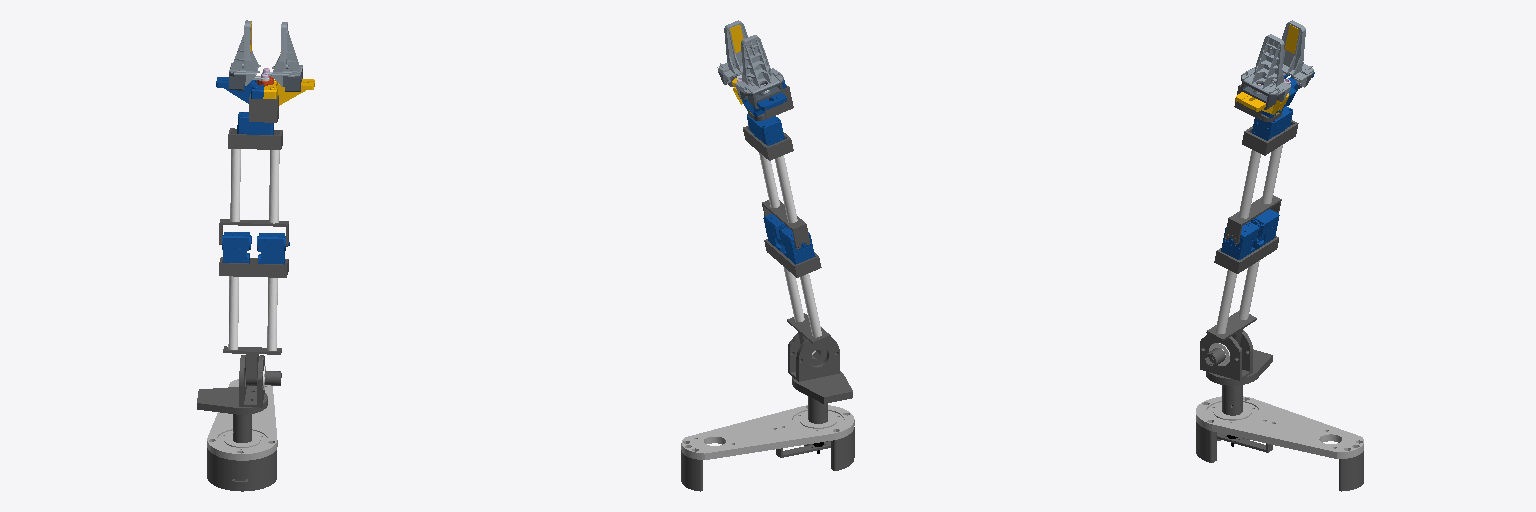
--- What the picture shows (computed from the rendered views, not written in the file) ---
Views: 3 orthographic renders of the robot side by side, from view 1: azimuth 30°, elevation 25°; view 2: azimuth 150°, elevation 25°; view 3: azimuth 270°, elevation 25°.
Robot: jacker — 5 links, 4 joints (2 revolute, 2 continuous); root link base_link; default pose: all joints at 0.
Visible links, largest first — view 1: link_elbow, base_link, link_claw, link_forearm, link_socket; view 2: base_link, link_claw, link_elbow, link_socket, link_forearm; view 3: base_link, link_claw, link_elbow, link_forearm, link_socket.
Boxes of the visible links, box(x1,y1,x2,y2) form: link_elbow: box(219, 232, 289, 385); base_link: box(207, 379, 277, 491); link_claw: box(216, 20, 314, 122); link_forearm: box(219, 112, 288, 246); link_socket: box(197, 355, 267, 442); base_link: box(681, 405, 854, 491); link_claw: box(717, 20, 793, 120); link_elbow: box(763, 214, 830, 362); link_socket: box(788, 333, 852, 453); link_forearm: box(743, 114, 810, 249); base_link: box(1196, 396, 1363, 491); link_claw: box(1234, 20, 1314, 121); link_elbow: box(1204, 209, 1279, 367); link_forearm: box(1225, 106, 1298, 244); link_socket: box(1200, 330, 1272, 446).
Bounding box of the posed robot: 0.188 × 0.2103 × 0.6132 m (x, y, z).
Meshes: 28 distinct files referenced, 42 mesh visuals loaded (28 binary STL).

The robot description file, URDF, robot "jacker":
<robot name="jacker">
    <link name="base_link">
        <!-- <visual>
         <origin xyz="0.0312733 0.0316299 -0.0407984" rpy="-3.14159 6.52412e-16 9.27658e-32" />
         <geometry>
            <mesh filename="package://right_arm_urdf/meshes/.5_hexbearing_1.125_od.stl" />
         </geometry>
         <material name=".5_hexbearing_1.125_od_material">
            <color rgba="0.956863 0.956863 0.956863 1.0" />
         </material>
      </visual> -->
        <!-- <collision>
         <origin xyz="0.0312733 0.0316299 -0.0407984" rpy="-3.14159 6.52412e-16 9.27658e-32" />
         <geometry>
            <mesh filename="package://right_arm_urdf/meshes/.5_hexbearing_1.125_od.stl" />
         </geometry>
         <material name=".5_hexbearing_1.125_od_material">
            <color rgba="0.956863 0.956863 0.956863 1.0" />
         </material>
      </collision> -->
        <!-- <visual>
         <origin xyz="-0.050972 -0.0908091 -0.0664109" rpy="1.5708 -1.23179e-14 1.10732" />
         <geometry>
            <mesh filename="package://right_arm_urdf/meshes/.5in_hex_collar.stl" />
         </geometry>
         <material name=".5in_hex_collar_material">
            <color rgba="0.0392157 0.0392157 0.0392157 1.0" />
         </material>
      </visual> -->
        <!-- <collision>
         <origin xyz="-0.050972 -0.0908091 -0.0664109" rpy="1.5708 -1.23179e-14 1.10732" />
         <geometry>
            <mesh filename="package://right_arm_urdf/meshes/.5in_hex_collar.stl" />
         </geometry>
         <material name=".5in_hex_collar_material">
            <color rgba="0.0392157 0.0392157 0.0392157 1.0" />
         </material>
      </collision> -->
        <visual>
            <origin xyz="-0.050972 -0.0908091 -0.0376234" rpy="2.96018e-17 4.29356e-16 -0.591496" />
            <geometry>
                <mesh filename="package://right_arm_urdf/meshes/baseplaterev2.stl" />
            </geometry>
            <material name="baseplaterev2_material">
                <color rgba="0.74902 0.74902 0.74902 1.0" />
            </material>
        </visual>
        <collision>
            <origin xyz="-0.050972 -0.0908091 -0.0376234" rpy="2.96018e-17 4.29356e-16 -0.591496" />
            <geometry>
                <mesh filename="package://right_arm_urdf/meshes/baseplaterev2.stl" />
            </geometry>
            <material name="baseplaterev2_material">
                <color rgba="0.74902 0.74902 0.74902 1.0" />
            </material>
        </collision>
        <visual>
            <origin xyz="0.0696264 0.038978 -0.0915984" rpy="4.7541e-17 4.39226e-16 -0.591496" />
            <geometry>
                <mesh filename="package://right_arm_urdf/meshes/prototypestand2rev2.stl" />
            </geometry>
            <material name="prototypestand2rev2_material">
                <color rgba="0.411765 0.411765 0.411765 1.0" />
            </material>
        </visual>
        <collision>
            <origin xyz="0.0696264 0.038978 -0.0915984" rpy="4.7541e-17 4.39226e-16 -0.591496" />
            <geometry>
                <mesh filename="package://right_arm_urdf/meshes/prototypestand2rev2.stl" />
            </geometry>
            <material name="prototypestand2rev2_material">
                <color rgba="0.411765 0.411765 0.411765 1.0" />
            </material>
        </collision>
        <!-- <visual>
         <origin xyz="0.0312733 0.0316299 0.0129016" rpy="-2.16184 -1.5708 0" />
         <geometry>
            <mesh filename="package://right_arm_urdf/meshes/neo550.stl" />
         </geometry>
         <material name="neo550_material">
            <color rgba="0.752941 0.752941 0.752941 1.0" />
         </material>
      </visual>
      <collision>
         <origin xyz="0.0312733 0.0316299 0.0129016" rpy="-2.16184 -1.5708 0" />
         <geometry>
            <mesh filename="package://right_arm_urdf/meshes/neo550.stl" />
         </geometry>
         <material name="neo550_material">
            <color rgba="0.752941 0.752941 0.752941 1.0" />
         </material>
      </collision> -->
        <!-- <visual>
         <origin xyz="-0.050972 -0.0908091 -0.0559859" rpy="-1.5708 6.96087e-16 2.15452" />
         <geometry>
            <mesh filename="package://right_arm_urdf/meshes/24t_htd_pulley_9mm.stl" />
         </geometry>
         <material name="24t_htd_pulley_9mm_material">
            <color rgba="0.752941 0.752941 0.752941 1.0" />
         </material>
      </visual>
      <collision>
         <origin xyz="-0.050972 -0.0908091 -0.0559859" rpy="-1.5708 6.96087e-16 2.15452" />
         <geometry>
            <mesh filename="package://right_arm_urdf/meshes/24t_htd_pulley_9mm.stl" />
         </geometry>
         <material name="24t_htd_pulley_9mm_material">
            <color rgba="0.752941 0.752941 0.752941 1.0" />
         </material>
      </collision> -->
        <!-- <visual>
         <origin xyz="0.0312733 0.0316299 -0.0221986" rpy="-2.69161 1.5708 0" />
         <geometry>
            <mesh filename="package://right_arm_urdf/meshes/217-2742.stl" />
         </geometry>
         <material name="217-2742_material">
            <color rgba="0.752941 0.752941 0.752941 1.0" />
         </material>
      </visual>
      <collision>
         <origin xyz="0.0312733 0.0316299 -0.0221986" rpy="-2.69161 1.5708 0" />
         <geometry>
            <mesh filename="package://right_arm_urdf/meshes/217-2742.stl" />
         </geometry>
         <material name="217-2742_material">
            <color rgba="0.752941 0.752941 0.752941 1.0" />
         </material>
      </collision> -->
        <!-- <visual>
         <origin xyz="0.0312733 0.0316299 -0.0664109" rpy="-1.5708 -5.74653e-16 -2.76056" />
         <geometry>
            <mesh filename="package://right_arm_urdf/meshes/.5in_hex_collar.stl" />
         </geometry>
         <material name=".5in_hex_collar_material">
            <color rgba="0.0392157 0.0392157 0.0392157 1.0" />
         </material>
      </visual>
      <collision>
         <origin xyz="0.0312733 0.0316299 -0.0664109" rpy="-1.5708 -5.74653e-16 -2.76056" />
         <geometry>
            <mesh filename="package://right_arm_urdf/meshes/.5in_hex_collar.stl" />
         </geometry>
         <material name=".5in_hex_collar_material">
            <color rgba="0.0392157 0.0392157 0.0392157 1.0" />
         </material>
      </collision> -->
        <!-- <visual>
         <origin xyz="0.0312733 0.0316299 -0.00294843" rpy="1.5708 -9.38059e-16 2.5501" />
         <geometry>
            <mesh filename="package://right_arm_urdf/meshes/217-2816-001_rev1.stl" />
         </geometry>
         <material name="217-2816-001_rev1_material">
            <color rgba="0.866667 0.909804 1 1.0" />
         </material>
      </visual>
      <collision>
         <origin xyz="0.0312733 0.0316299 -0.00294843" rpy="1.5708 -9.38059e-16 2.5501" />
         <geometry>
            <mesh filename="package://right_arm_urdf/meshes/217-2816-001_rev1.stl" />
         </geometry>
         <material name="217-2816-001_rev1_material">
            <color rgba="0.866667 0.909804 1 1.0" />
         </material>
      </collision> -->
        <!-- <visual>
         <origin xyz="0.0312733 0.0316299 -0.0664109" rpy="-1.5708 -5.74653e-16 -2.76056" />
         <geometry>
            <mesh filename="package://right_arm_urdf/meshes/.5in_hex_collar.stl" />
         </geometry>
         <material name=".5in_hex_collar_material">
            <color rgba="0.0392157 0.0392157 0.0392157 1.0" />
         </material>
      </visual>
      <collision>
         <origin xyz="0.0312733 0.0316299 -0.0664109" rpy="-1.5708 -5.74653e-16 -2.76056" />
         <geometry>
            <mesh filename="package://right_arm_urdf/meshes/.5in_hex_collar.stl" />
         </geometry>
         <material name=".5in_hex_collar_material">
            <color rgba="0.0392157 0.0392157 0.0392157 1.0" />
         </material>
      </collision> -->
        <!-- <visual>
         <origin xyz="0.0312733 0.0316299 -0.0559859" rpy="-1.5708 -5.33776e-16 -2.76056" />
         <geometry>
            <mesh filename="package://right_arm_urdf/meshes/18t_htd_pulley_9mm1.stl" />
         </geometry>
         <material name="18t_htd_pulley_9mm1_material">
            <color rgba="0.0392157 0.0392157 0.0392157 1.0" />
         </material>
      </visual>
      <collision>
         <origin xyz="0.0312733 0.0316299 -0.0559859" rpy="-1.5708 -5.33776e-16 -2.76056" />
         <geometry>
            <mesh filename="package://right_arm_urdf/meshes/18t_htd_pulley_9mm1.stl" />
         </geometry>
         <material name="18t_htd_pulley_9mm1_material">
            <color rgba="0.0392157 0.0392157 0.0392157 1.0" />
         </material>
      </collision> -->
        <!-- <visual>
         <origin xyz="-0.050972 -0.0908091 -0.0664109" rpy="1.5708 -1.91053e-15 2.47543" />
         <geometry>
            <mesh filename="package://right_arm_urdf/meshes/.5in_hex_collar.stl" />
         </geometry>
         <material name=".5in_hex_collar_material">
            <color rgba="0.0392157 0.0392157 0.0392157 1.0" />
         </material>
      </visual>
      <collision>
         <origin xyz="-0.050972 -0.0908091 -0.0664109" rpy="1.5708 -1.91053e-15 2.47543" />
         <geometry>
            <mesh filename="package://right_arm_urdf/meshes/.5in_hex_collar.stl" />
         </geometry>
         <material name=".5in_hex_collar_material">
            <color rgba="0.0392157 0.0392157 0.0392157 1.0" />
         </material>
      </collision> -->
        <!-- <visual>
         <origin xyz="0.0312733 0.0316299 0.0229016" rpy="-1.5708 7.13515e-16 -0.591046" />
         <geometry>
            <mesh filename="package://right_arm_urdf/meshes/rs_550_motor_mounting_plate.stl" />
         </geometry>
         <material name="rs_550_motor_mounting_plate_material">
            <color rgba="0.25098 0.25098 0.25098 1.0" />
         </material>
      </visual>
      <collision>
         <origin xyz="0.0312733 0.0316299 0.0229016" rpy="-1.5708 7.13515e-16 -0.591046" />
         <geometry>
            <mesh filename="package://right_arm_urdf/meshes/rs_550_motor_mounting_plate.stl" />
         </geometry>
         <material name="rs_550_motor_mounting_plate_material">
            <color rgba="0.25098 0.25098 0.25098 1.0" />
         </material>
      </collision> -->
        <!-- <visual>
         <origin xyz="0.0312733 0.0316299 -0.0371986" rpy="2.40948 -1.5708 0" />
         <geometry>
            <mesh filename="package://right_arm_urdf/meshes/217-2742.stl" />
         </geometry>
         <material name="217-2742_material">
            <color rgba="0.752941 0.752941 0.752941 1.0" />
         </material>
      </visual>
      <collision>
         <origin xyz="0.0312733 0.0316299 -0.0371986" rpy="2.40948 -1.5708 0" />
         <geometry>
            <mesh filename="package://right_arm_urdf/meshes/217-2742.stl" />
         </geometry>
         <material name="217-2742_material">
            <color rgba="0.752941 0.752941 0.752941 1.0" />
         </material>
      </collision> -->
        <!-- <visual> 
         <origin xyz="-0.050972 -0.0908091 -0.0407984" rpy="3.14159 -5.84958e-17 -1.71336" />
         <geometry>
            <mesh filename="package://right_arm_urdf/meshes/.5_hexbearing_1.125_od.stl" />
         </geometry>
         <material name=".5_hexbearing_1.125_od_material">
            <color rgba="0.956863 0.956863 0.956863 1.0" />
         </material>
      </visual>
      <collision>
         <origin xyz="-0.050972 -0.0908091 -0.0407984" rpy="3.14159 -5.84958e-17 -1.71336" />
         <geometry>
            <mesh filename="package://right_arm_urdf/meshes/.5_hexbearing_1.125_od.stl" />
         </geometry>
         <material name=".5_hexbearing_1.125_od_material">
            <color rgba="0.956863 0.956863 0.956863 1.0" />
         </material>
      </collision> -->
        <!-- <visual>
         <origin xyz="0.0312733 0.0316299 -0.0156484" rpy="1.5708 -3.87577e-16 -0.591496" />
         <geometry>
            <mesh filename="package://right_arm_urdf/meshes/217-2816-001_rev1.stl" />
         </geometry>
         <material name="217-2816-001_rev1_material">
            <color rgba="0.866667 0.909804 1 1.0" />
         </material>
      </visual>
      <collision>
         <origin xyz="0.0312733 0.0316299 -0.0156484" rpy="1.5708 -3.87577e-16 -0.591496" />
         <geometry>
            <mesh filename="package://right_arm_urdf/meshes/217-2816-001_rev1.stl" />
         </geometry>
         <material name="217-2816-001_rev1_material">
            <color rgba="0.866667 0.909804 1 1.0" />
         </material>
      </collision> -->
        <visual>
            <origin xyz="-0.081081 -0.124245 -0.0775141" rpy="0.591496 1.5708 0" />
            <geometry>
                <mesh filename="package://right_arm_urdf/meshes/shoulderyawencoderplate.stl" />
            </geometry>
            <material name="shoulderyawencoderplate_material">
                <color rgba="0.411765 0.411765 0.411765 1.0" />
            </material>
        </visual>
        <collision>
            <origin xyz="-0.081081 -0.124245 -0.0775141" rpy="0.591496 1.5708 0" />
            <geometry>
                <mesh filename="package://right_arm_urdf/meshes/shoulderyawencoderplate.stl" />
            </geometry>
            <material name="shoulderyawencoderplate_material">
                <color rgba="0.411765 0.411765 0.411765 1.0" />
            </material>
        </collision>
        <visual>
            <origin xyz="-0.050972 -0.0908091 -0.0915984" rpy="3.12908e-16 2.95481e-16 0.979301" />
            <geometry>
                <mesh filename="package://right_arm_urdf/meshes/prototypestand1.stl" />
            </geometry>
            <material name="prototypestand1_material">
                <color rgba="0.411765 0.411765 0.411765 1.0" />
            </material>
        </visual>
        <collision>
            <origin xyz="-0.050972 -0.0908091 -0.0915984" rpy="3.12908e-16 2.95481e-16 0.979301" />
            <geometry>
                <mesh filename="package://right_arm_urdf/meshes/prototypestand1.stl" />
            </geometry>
            <material name="prototypestand1_material">
                <color rgba="0.411765 0.411765 0.411765 1.0" />
            </material>
        </collision>
        
<inertial>
            <origin xyz="0 0 0" rpy="0 0 0" />
            <mass value="5" />
            <inertia ixx="1" ixy="1" ixz="1" iyy="0" iyz="0" izz="0" />
        </inertial>

    </link>
    <link name="link_socket">
        <!-- <visual>
         <origin xyz="0.0177283 -3.33067e-16 -0.0893164" rpy="2.21468 7.24799e-15 3.14159" />
         <geometry>
            <mesh filename="package://right_arm_urdf/meshes/217-2742.stl" />
         </geometry>
         <material name="217-2742_material">
            <color rgba="0.752941 0.752941 0.752941 1.0" />
         </material>
      </visual>
      <collision>
         <origin xyz="0.0177283 -3.33067e-16 -0.0893164" rpy="2.21468 7.24799e-15 3.14159" />
         <geometry>
            <mesh filename="package://right_arm_urdf/meshes/217-2742.stl" />
         </geometry>
         <material name="217-2742_material">
            <color rgba="0.752941 0.752941 0.752941 1.0" />
         </material>
      </collision> -->
        <!-- <visual>
         <origin xyz="0.0528285 -3.747e-16 -0.0893164" rpy="2.35664 -8.07851e-15 -2.33009e-15" />
         <geometry>
            <mesh filename="package://right_arm_urdf/meshes/neo550.stl" />
         </geometry>
         <material name="neo550_material">
            <color rgba="0.752941 0.752941 0.752941 1.0" />
         </material>
      </visual>
      <collision>
         <origin xyz="0.0528285 -3.747e-16 -0.0893164" rpy="2.35664 -8.07851e-15 -2.33009e-15" />
         <geometry>
            <mesh filename="package://right_arm_urdf/meshes/neo550.stl" />
         </geometry>
         <material name="neo550_material">
            <color rgba="0.752941 0.752941 0.752941 1.0" />
         </material>
      </collision>
      <visual>
         <origin xyz="0.0628285 2.08167e-16 -0.0893164" rpy="-3.14159 -0.784949 -1.5708" />
         <geometry>
            <mesh filename="package://right_arm_urdf/meshes/rs_550_motor_mounting_plate.stl" />
         </geometry>
         <material name="rs_550_motor_mounting_plate_material">
            <color rgba="0.25098 0.25098 0.25098 1.0" />
         </material>
      </visual>
      <collision>
         <origin xyz="0.0628285 2.08167e-16 -0.0893164" rpy="-3.14159 -0.784949 -1.5708" />
         <geometry>
            <mesh filename="package://right_arm_urdf/meshes/rs_550_motor_mounting_plate.stl" />
         </geometry>
         <material name="rs_550_motor_mounting_plate_material">
            <color rgba="0.25098 0.25098 0.25098 1.0" />
         </material>
      </collision> -->
        <!-- <visual>
         <origin xyz="0.00230351 -4.30211e-16 -0.0893164" rpy="-1.5708 -0.610312 1.5708" />
         <geometry>
            <mesh filename="package://right_arm_urdf/meshes/.5_hexbearing_1.125_od.stl" />
         </geometry>
         <material name=".5_hexbearing_1.125_od_material">
            <color rgba="0.956863 0.956863 0.956863 1.0" />
         </material>
      </visual>
      <collision>
         <origin xyz="0.00230351 -4.30211e-16 -0.0893164" rpy="-1.5708 -0.610312 1.5708" />
         <geometry>
            <mesh filename="package://right_arm_urdf/meshes/.5_hexbearing_1.125_od.stl" />
         </geometry>
         <material name=".5_hexbearing_1.125_od_material">
            <color rgba="0.956863 0.956863 0.956863 1.0" />
         </material>
      </collision> -->
        <!-- <visual>
         <origin xyz="0.0104807 1.11022e-16 -0.0893164" rpy="1.23402e-14 -0.960485 -1.5708" />
         <geometry>
            <mesh filename="package://right_arm_urdf/meshes/217-2625-003_rev1.stl" />
         </geometry>
         <material name="217-2625-003_rev1_material">
            <color rgba="0.25098 0.25098 0.25098 1.0" />
         </material>
      </visual>
      <collision>
         <origin xyz="0.0104807 1.11022e-16 -0.0893164" rpy="1.23402e-14 -0.960485 -1.5708" />
         <geometry>
            <mesh filename="package://right_arm_urdf/meshes/217-2625-003_rev1.stl" />
         </geometry>
         <material name="217-2625-003_rev1_material">
            <color rgba="0.25098 0.25098 0.25098 1.0" />
         </material>
      </collision> -->
        <!-- <visual>
         <origin xyz="0.00676581 0.0254 -0.0893164" rpy="3.14159 -4.52986e-12 -1.5708" />
         <geometry>
            <mesh filename="package://right_arm_urdf/meshes/10-32_x_1.5in_socket_screw.sldprt.stl" />
         </geometry>
         <material name="10-32_x_1.5in_socket_screw.sldprt_material">
            <color rgba="0.776471 0.756863 0.737255 1.0" />
         </material>
      </visual>
      <collision>
         <origin xyz="0.00676581 0.0254 -0.0893164" rpy="3.14159 -4.52986e-12 -1.5708" />
         <geometry>
            <mesh filename="package://right_arm_urdf/meshes/10-32_x_1.5in_socket_screw.sldprt.stl" />
         </geometry>
         <material name="10-32_x_1.5in_socket_screw.sldprt_material">
            <color rgba="0.776471 0.756863 0.737255 1.0" />
         </material>
      </collision> -->
        <!-- <visual>
         <origin xyz="0.00676581 -0.0254 -0.0893164" rpy="3.14159 -4.52529e-12 -1.5708" />
         <geometry>
            <mesh filename="package://right_arm_urdf/meshes/10-32_x_1.5in_socket_screw.sldprt.stl" />
         </geometry>
         <material name="10-32_x_1.5in_socket_screw.sldprt_material">
            <color rgba="0.776471 0.756863 0.737255 1.0" />
         </material>
      </visual>
      <collision>
         <origin xyz="0.00676581 -0.0254 -0.0893164" rpy="3.14159 -4.52529e-12 -1.5708" />
         <geometry>
            <mesh filename="package://right_arm_urdf/meshes/10-32_x_1.5in_socket_screw.sldprt.stl" />
         </geometry>
         <material name="10-32_x_1.5in_socket_screw.sldprt_material">
            <color rgba="0.776471 0.756863 0.737255 1.0" />
         </material>
      </collision> -->
        <!-- <visual>
         <origin xyz="0.0244285 -3.88578e-16 -0.0893164" rpy="-3.14159 -0.785398 -1.5708" />
         <geometry>
            <mesh filename="package://right_arm_urdf/meshes/217-2625-002_rev1.stl" />
         </geometry>
         <material name="217-2625-002_rev1_material">
            <color rgba="0.866667 0.909804 1 1.0" />
         </material>
      </visual>
      <collision>
         <origin xyz="0.0244285 -3.88578e-16 -0.0893164" rpy="-3.14159 -0.785398 -1.5708" />
         <geometry>
            <mesh filename="package://right_arm_urdf/meshes/217-2625-002_rev1.stl" />
         </geometry>
         <material name="217-2625-002_rev1_material">
            <color rgba="0.866667 0.909804 1 1.0" />
         </material>
      </collision> -->
        <!-- <visual>
         <origin xyz="-0.0507017 -4.996e-16 -0.0893164" rpy="-1.5708 -0.185983 1.5708" />
         <geometry>
            <mesh filename="package://right_arm_urdf/meshes/e8tencodershaft.stl" />
         </geometry>
         <material name="e8tencodershaft_material">
            <color rgba="0.0392157 0.0392157 0.0392157 1.0" />
         </material>
      </visual>
      <collision>
         <origin xyz="-0.0507017 -4.996e-16 -0.0893164" rpy="-1.5708 -0.185983 1.5708" />
         <geometry>
            <mesh filename="package://right_arm_urdf/meshes/e8tencodershaft.stl" />
         </geometry>
         <material name="e8tencodershaft_material">
            <color rgba="0.0392157 0.0392157 0.0392157 1.0" />
         </material>
      </collision> -->
        <visual>
            <origin xyz="8.26275e-12 -5.63159e-12 -0.0508" rpy="-3.14159 -6.0173e-15 -2.61799" />
            <geometry>
                <mesh filename="package://right_arm_urdf/meshes/shoulderyawaxlerev2.stl" />
            </geometry>
            <material name="shoulderyawaxlerev2_material">
                <color rgba="0.0392157 0.0392157 0.0392157 1.0" />
            </material>
        </visual>
        <collision>
            <origin xyz="8.26275e-12 -5.63159e-12 -0.0508" rpy="-3.14159 -6.0173e-15 -2.61799" />
            <geometry>
                <mesh filename="package://right_arm_urdf/meshes/shoulderyawaxlerev2.stl" />
            </geometry>
            <material name="shoulderyawaxlerev2_material">
                <color rgba="0.0392157 0.0392157 0.0392157 1.0" />
            </material>
        </collision>
        <!-- <visual>
         <origin xyz="0.0369785 4.16334e-17 -0.0893164" rpy="3.14159 0.785398 1.5708" />
         <geometry>
            <mesh filename="package://right_arm_urdf/meshes/217-2816-001_rev1.stl" />
         </geometry>
         <material name="217-2816-001_rev1_material">
            <color rgba="0.866667 0.909804 1 1.0" />
         </material>
      </visual>
      <collision>
         <origin xyz="0.0369785 4.16334e-17 -0.0893164" rpy="3.14159 0.785398 1.5708" />
         <geometry>
            <mesh filename="package://right_arm_urdf/meshes/217-2816-001_rev1.stl" />
         </geometry>
         <material name="217-2816-001_rev1_material">
            <color rgba="0.866667 0.909804 1 1.0" />
         </material>
      </collision> -->
        <visual>
            <origin xyz="0.00230351 -2.91434e-16 -0.0893164" rpy="3.14159 4.82664e-15 -3.14159" />
            <geometry>
                <mesh filename="package://right_arm_urdf/meshes/shoulderpitchbearingplaterev2.stl" />
            </geometry>
            <material name="shoulderpitchbearingplaterev2_material">
                <color rgba="0.411765 0.411765 0.411765 1.0" />
            </material>
        </visual>
        <collision>
            <origin xyz="0.00230351 -2.91434e-16 -0.0893164" rpy="3.14159 4.82664e-15 -3.14159" />
            <geometry>
                <mesh filename="package://right_arm_urdf/meshes/shoulderpitchbearingplaterev2.stl" />
            </geometry>
            <material name="shoulderpitchbearingplaterev2_material">
                <color rgba="0.411765 0.411765 0.411765 1.0" />
            </material>
        </collision>
        <visual>
            <origin xyz="-0.0218092 -2.77556e-16 -0.0893164" rpy="-1.5708 -0.610312 1.5708" />
            <geometry>
                <mesh filename="package://right_arm_urdf/meshes/.5_hexbearing_1.125_od.stl" />
            </geometry>
            <material name=".5_hexbearing_1.125_od_material">
                <color rgba="0.956863 0.956863 0.956863 1.0" />
            </material>
        </visual>
        <!-- <collision>
         <origin xyz="-0.0218092 -2.77556e-16 -0.0893164" rpy="-1.5708 -0.610312 1.5708" />
         <geometry>
            <mesh filename="package://right_arm_urdf/meshes/.5_hexbearing_1.125_od.stl" />
         </geometry>
         <material name=".5_hexbearing_1.125_od_material">
            <color rgba="0.956863 0.956863 0.956863 1.0" />
         </material>
      </collision>
      <visual>
         <origin xyz="0.0538285 2.77556e-17 -0.0893164" rpy="-1.114e-14 0.785398 1.5708" />
         <geometry>
            <mesh filename="package://right_arm_urdf/meshes/217-2625-001_rev1.stl" />
         </geometry>
         <material name="217-2625-001_rev1_material">
            <color rgba="0.866667 0.909804 1 1.0" />
         </material>
      </visual> -->
        <!-- <collision>
         <origin xyz="0.0538285 2.77556e-17 -0.0893164" rpy="-1.114e-14 0.785398 1.5708" />
         <geometry>
            <mesh filename="package://right_arm_urdf/meshes/217-2625-001_rev1.stl" />
         </geometry>
         <material name="217-2625-001_rev1_material">
            <color rgba="0.866667 0.909804 1 1.0" />
         </material>
      </collision>
      <visual>
         <origin xyz="-0.0538767 8.35443e-14 -0.0829664" rpy="-3.14159 -8.01182e-12 3.14159" />
         <geometry>
            <mesh filename="package://right_arm_urdf/meshes/shoulderpitchencoderplate.stl" />
         </geometry>
         <material name="shoulderpitchencoderplate_material">
            <color rgba="0.411765 0.411765 0.411765 1.0" />
         </material>
      </visual> -->
        <collision>
            <origin xyz="-0.0538767 8.35443e-14 -0.0829664" rpy="-3.14159 -8.01182e-12 3.14159" />
            <geometry>
                <mesh filename="package://right_arm_urdf/meshes/shoulderpitchencoderplate.stl" />
            </geometry>
            <material name="shoulderpitchencoderplate_material">
                <color rgba="0.411765 0.411765 0.411765 1.0" />
            </material>
        </collision>
        <visual>
            <origin xyz="-6.93889e-18 0 -0.0508" rpy="3.14159 -5.25752e-32 3.26532e-17" />
            <geometry>
                <mesh filename="package://right_arm_urdf/meshes/shoulderbaseplaterev2.stl" />
            </geometry>
            <material name="shoulderbaseplaterev2_material">
                <color rgba="0.411765 0.411765 0.411765 1.0" />
            </material>
        </visual>
        <collision>
            <origin xyz="-6.93889e-18 0 -0.0508" rpy="3.14159 -5.25752e-32 3.26532e-17" />
            <geometry>
                <mesh filename="package://right_arm_urdf/meshes/shoulderbaseplaterev2.stl" />
            </geometry>
            <material name="shoulderbaseplaterev2_material">
                <color rgba="0.411765 0.411765 0.411765 1.0" />
            </material>
        </collision>
        <!-- <visual>
         <origin xyz="0.00272831 4.16334e-17 -0.0893164" rpy="-1.69917 -1.87759e-14 -6.67981e-16" />
         <geometry>
            <mesh filename="package://right_arm_urdf/meshes/217-2742.stl" />
         </geometry>
         <material name="217-2742_material">
            <color rgba="0.752941 0.752941 0.752941 1.0" />
         </material>
      </visual>
      <collision>
         <origin xyz="0.00272831 4.16334e-17 -0.0893164" rpy="-1.69917 -1.87759e-14 -6.67981e-16" />
         <geometry>
            <mesh filename="package://right_arm_urdf/meshes/217-2742.stl" />
         </geometry>
         <material name="217-2742_material">
            <color rgba="0.752941 0.752941 0.752941 1.0" />
         </material>
      </collision> -->
        <!-- <visual>
         <origin xyz="0.0242785 -4.30211e-16 -0.0893164" rpy="9.72005e-15 -0.785398 -1.5708" />
         <geometry>
            <mesh filename="package://right_arm_urdf/meshes/217-2816-001_rev1.stl" />
         </geometry>
         <material name="217-2816-001_rev1_material">
            <color rgba="0.866667 0.909804 1 1.0" />
         </material>
      </visual>
      <collision>
         <origin xyz="0.0242785 -4.30211e-16 -0.0893164" rpy="9.72005e-15 -0.785398 -1.5708" />
         <geometry>
            <mesh filename="package://right_arm_urdf/meshes/217-2816-001_rev1.stl" />
         </geometry>
         <material name="217-2816-001_rev1_material">
            <color rgba="0.866667 0.909804 1 1.0" />
         </material>
      </collision> -->
        
<inertial>
            <origin xyz="0 0 0" rpy="0 0 0" />
            <mass value="5" />
            <inertia ixx="0" ixy="0" ixz="0" iyy="0" iyz="0" izz="0" />
        </inertial>

    </link>
    <link name="link_elbow">
        <visual>
            <origin xyz="0.166399 -0.0715838 0.0398102" rpy="3.14159 -5.2803e-15 -1.97706" />
            <geometry>
                <mesh filename="package://right_arm_urdf/meshes/dc12_w-idle_alt2_36.stl" />
            </geometry>
            <material name="dc12_w-idle_alt2_36_material">
                <color rgba="0.105882 0.372549 0.666667 1.0" />
            </material>
        </visual>
        <collision>
            <origin xyz="0.166399 -0.0715838 0.0398102" rpy="3.14159 -5.2803e-15 -1.97706" />
            <geometry>
                <mesh filename="package://right_arm_urdf/meshes/dc12_w-idle_alt2_36.stl" />
            </geometry>
            <material name="dc12_w-idle_alt2_36_material">
                <color rgba="0.105882 0.372549 0.666667 1.0" />
            </material>
        </collision>
        <!-- <visual>
         <origin xyz="0.143395 -0.0703968 0.0458102" rpy="1.16453 -1.5708 0" />
         <geometry>
            <mesh filename="package://right_arm_urdf/meshes/92290a752_type_316_ss_socket_head_cap_screw.stl" />
         </geometry>
         <material name="92290a752_type_316_ss_socket_head_cap_screw_material">
            <color rgba="0.956863 0.956863 0.956863 1.0" />
         </material>
      </visual>
      <collision>
         <origin xyz="0.143395 -0.0703968 0.0458102" rpy="1.16453 -1.5708 0" />
         <geometry>
            <mesh filename="package://right_arm_urdf/meshes/92290a752_type_316_ss_socket_head_cap_screw.stl" />
         </geometry>
         <material name="92290a752_type_316_ss_socket_head_cap_screw_material">
            <color rgba="0.956863 0.956863 0.956863 1.0" />
         </material>
      </collision> -->
        <!-- <visual>
         <origin xyz="0.149718 -0.0556991 0.0458102" rpy="1.16453 -1.5708 0" />
         <geometry>
            <mesh filename="package://right_arm_urdf/meshes/92290a752_type_316_ss_socket_head_cap_screw.stl" />
         </geometry>
         <material name="92290a752_type_316_ss_socket_head_cap_screw_material">
            <color rgba="0.956863 0.956863 0.956863 1.0" />
         </material>
      </visual>
      <collision>
         <origin xyz="0.149718 -0.0556991 0.0458102" rpy="1.16453 -1.5708 0" />
         <geometry>
            <mesh filename="package://right_arm_urdf/meshes/92290a752_type_316_ss_socket_head_cap_screw.stl" />
         </geometry>
         <material name="92290a752_type_316_ss_socket_head_cap_screw_material">
            <color rgba="0.956863 0.956863 0.956863 1.0" />
         </material>
      </collision> -->
        <!-- <visual>
         <origin xyz="0.0295813 -0.0127257 -0.0085898" rpy="1.97706 1.5708 0" />
         <geometry>
            <mesh filename="package://right_arm_urdf/meshes/10-32_x_0.75in_buttonhead_locking_screw_mcmaster_92360a252.sldprt.stl" />
         </geometry>
         <material name="10-32_x_0.75in_buttonhead_locking_screw_mcmaster_92360a252.sldprt_material">
            <color rgba="0.776471 0.756863 0.737255 1.0" />
         </material>
      </visual>
      <collision>
         <origin xyz="0.0295813 -0.0127257 -0.0085898" rpy="1.97706 1.5708 0" />
         <geometry>
            <mesh filename="package://right_arm_urdf/meshes/10-32_x_0.75in_buttonhead_locking_screw_mcmaster_92360a252.sldprt.stl" />
         </geometry>
         <material name="10-32_x_0.75in_buttonhead_locking_screw_mcmaster_92360a252.sldprt_material">
            <color rgba="0.776471 0.756863 0.737255 1.0" />
         </material>
      </collision> -->
        <visual>
            <origin xyz="0.141044 -0.041321 -0.0276398" rpy="1.5708 -4.32057e-15 1.16453" />
            <geometry>
                <mesh filename="package://right_arm_urdf/meshes/elbowmotorbracket.stl" />
            </geometry>
            <material name="elbowmotorbracket_material">
                <color rgba="0.411765 0.411765 0.411765 1.0" />
            </material>
        </visual>
        <collision>
            <origin xyz="0.141044 -0.041321 -0.0276398" rpy="1.5708 -4.32057e-15 1.16453" />
            <geometry>
                <mesh filename="package://right_arm_urdf/meshes/elbowmotorbracket.stl" />
            </geometry>
            <material name="elbowmotorbracket_material">
                <color rgba="0.411765 0.411765 0.411765 1.0" />
            </material>
        </collision>
        <visual>
            <origin xyz="3.46945e-18 0 -0.009525" rpy="3.14159 -4.26399e-18 -4.08558e-17" />
            <geometry>
                <mesh filename="package://right_arm_urdf/meshes/shoulderpitchencodercoupler.stl" />
            </geometry>
            <material name="shoulderpitchencodercoupler_material">
                <color rgba="0.411765 0.411765 0.411765 1.0" />
            </material>
        </visual>
        <collision>
            <origin xyz="3.46945e-18 0 -0.009525" rpy="3.14159 -4.26399e-18 -4.08558e-17" />
            <geometry>
                <mesh filename="package://right_arm_urdf/meshes/shoulderpitchencodercoupler.stl" />
            </geometry>
            <material name="shoulderpitchencodercoupler_material">
                <color rgba="0.411765 0.411765 0.411765 1.0" />
            </material>
        </collision>
        <!-- <visual>
         <origin xyz="0.143395 -0.0703968 -0.0001898" rpy="1.16453 -1.5708 0" />
         <geometry>
            <mesh filename="package://right_arm_urdf/meshes/92290a752_type_316_ss_socket_head_cap_screw.stl" />
         </geometry>
         <material name="92290a752_type_316_ss_socket_head_cap_screw_material">
            <color rgba="0.956863 0.956863 0.956863 1.0" />
         </material>
      </visual>
      <collision>
         <origin xyz="0.143395 -0.0703968 -0.0001898" rpy="1.16453 -1.5708 0" />
         <geometry>
            <mesh filename="package://right_arm_urdf/meshes/92290a752_type_316_ss_socket_head_cap_screw.stl" />
         </geometry>
         <material name="92290a752_type_316_ss_socket_head_cap_screw_material">
            <color rgba="0.956863 0.956863 0.956863 1.0" />
         </material>
      </collision> -->
        <visual>
            <origin xyz="0.0369567 -0.00207324 0.0095077" rpy="1.5708 2.30469e-16 -0.406262" />
            <geometry>
                <mesh filename="package://right_arm_urdf/meshes/shoulderpitchbracketrev2.stl" />
            </geometry>
            <material name="shoulderpitchbracketrev2_material">
                <color rgba="0.411765 0.411765 0.411765 1.0" />
            </material>
        </visual>
        <collision>
            <origin xyz="0.0369567 -0.00207324 0.0095077" rpy="1.5708 2.30469e-16 -0.406262" />
            <geometry>
                <mesh filename="package://right_arm_urdf/meshes/shoulderpitchbracketrev2.stl" />
            </geometry>
            <material name="shoulderpitchbracketrev2_material">
                <color rgba="0.411765 0.411765 0.411765 1.0" />
            </material>
        </collision>
        <visual>
            <origin xyz="0.166399 -0.0715838 -0.0061898" rpy="-1.55302e-14 -1.50401e-14 1.16453" />
            <geometry>
                <mesh filename="package://right_arm_urdf/meshes/dc12_w-idle_alt2_36.stl" />
            </geometry>
            <material name="dc12_w-idle_alt2_36_material">
                <color rgba="0.105882 0.372549 0.666667 1.0" />
            </material>
        </visual>
        <collision>
            <origin xyz="0.166399 -0.0715838 -0.0061898" rpy="-1.55302e-14 -1.50401e-14 1.16453" />
            <geometry>
                <mesh filename="package://right_arm_urdf/meshes/dc12_w-idle_alt2_36.stl" />
            </geometry>
            <material name="dc12_w-idle_alt2_36_material">
                <color rgba="0.105882 0.372549 0.666667 1.0" />
            </material>
        </collision>
        <!-- <visual>
         <origin xyz="0.149718 -0.0556991 -0.0001898" rpy="1.16453 -1.5708 0" />
         <geometry>
            <mesh filename="package://right_arm_urdf/meshes/92290a752_type_316_ss_socket_head_cap_screw.stl" />
         </geometry>
         <material name="92290a752_type_316_ss_socket_head_cap_screw_material">
            <color rgba="0.956863 0.956863 0.956863 1.0" />
         </material>
      </visual>
      <collision>
         <origin xyz="0.149718 -0.0556991 -0.0001898" rpy="1.16453 -1.5708 0" />
         <geometry>
            <mesh filename="package://right_arm_urdf/meshes/92290a752_type_316_ss_socket_head_cap_screw.stl" />
         </geometry>
         <material name="92290a752_type_316_ss_socket_head_cap_screw_material">
            <color rgba="0.956863 0.956863 0.956863 1.0" />
         </material>
      </collision> -->
        <!-- <visual>
         <origin xyz="0.143395 -0.0703968 0.0338102" rpy="1.16453 -1.5708 0" />
         <geometry>
            <mesh filename="package://right_arm_urdf/meshes/92290a752_type_316_ss_socket_head_cap_screw.stl" />
         </geometry>
         <material name="92290a752_type_316_ss_socket_head_cap_screw_material">
            <color rgba="0.956863 0.956863 0.956863 1.0" />
         </material>
      </visual>
      <collision>
         <origin xyz="0.143395 -0.0703968 0.0338102" rpy="1.16453 -1.5708 0" />
         <geometry>
            <mesh filename="package://right_arm_urdf/meshes/92290a752_type_316_ss_socket_head_cap_screw.stl" />
         </geometry>
         <material name="92290a752_type_316_ss_socket_head_cap_screw_material">
            <color rgba="0.956863 0.956863 0.956863 1.0" />
         </material>
      </collision> -->
        <visual>
            <origin xyz="0.128185 -0.0551444 -0.0085898" rpy="1.5708 -1.16446 -1.97706" />
            <geometry>
                <mesh filename="package://right_arm_urdf/meshes/armbodystandoff.stl" />
            </geometry>
            <material name="armbodystandoff_material">
                <color rgba="0.956863 0.956863 0.956863 1.0" />
            </material>
        </visual>
        <collision>
            <origin xyz="0.128185 -0.0551444 -0.0085898" rpy="1.5708 -1.16446 -1.97706" />
            <geometry>
                <mesh filename="package://right_arm_urdf/meshes/armbodystandoff.stl" />
            </geometry>
            <material name="armbodystandoff_material">
                <color rgba="0.956863 0.956863 0.956863 1.0" />
            </material>
        </collision>
        <visual>
            <origin xyz="0.128185 -0.0551444 0.0422102" rpy="1.5708 1.48536 -1.97706" />
            <geometry>
                <mesh filename="package://right_arm_urdf/meshes/armbodystandoff.stl" />
            </geometry>
            <material name="armbodystandoff_material">
                <color rgba="0.956863 0.956863 0.956863 1.0" />
            </material>
        </visual>
        <collision>
            <origin xyz="0.128185 -0.0551444 0.0422102" rpy="1.5708 1.48536 -1.97706" />
            <geometry>
                <mesh filename="package://right_arm_urdf/meshes/armbodystandoff.stl" />
            </geometry>
            <material name="armbodystandoff_material">
                <color rgba="0.956863 0.956863 0.956863 1.0" />
            </material>
        </collision>
        <!-- <visual>
         <origin xyz="0.149718 -0.0556991 0.0338102" rpy="1.16453 -1.5708 0" />
         <geometry>
            <mesh filename="package://right_arm_urdf/meshes/92290a752_type_316_ss_socket_head_cap_screw.stl" />
         </geometry>
         <material name="92290a752_type_316_ss_socket_head_cap_screw_material">
            <color rgba="0.956863 0.956863 0.956863 1.0" />
         </material>
      </visual>
      <collision>
         <origin xyz="0.149718 -0.0556991 0.0338102" rpy="1.16453 -1.5708 0" />
         <geometry>
            <mesh filename="package://right_arm_urdf/meshes/92290a752_type_316_ss_socket_head_cap_screw.stl" />
         </geometry>
         <material name="92290a752_type_316_ss_socket_head_cap_screw_material">
            <color rgba="0.956863 0.956863 0.956863 1.0" />
         </material>
      </collision> -->
        <!-- <visual>
         <origin xyz="0.0295813 -0.0127257 0.0422102" rpy="1.97706 1.5708 0" />
         <geometry>
            <mesh filename="package://right_arm_urdf/meshes/10-32_x_0.75in_buttonhead_locking_screw_mcmaster_92360a252.sldprt.stl" />
         </geometry>
         <material name="10-32_x_0.75in_buttonhead_locking_screw_mcmaster_92360a252.sldprt_material">
            <color rgba="0.776471 0.756863 0.737255 1.0" />
         </material>
      </visual> 
      <collision>
         <origin xyz="0.0295813 -0.0127257 0.0422102" rpy="1.97706 1.5708 0" />
         <geometry>
            <mesh filename="package://right_arm_urdf/meshes/10-32_x_0.75in_buttonhead_locking_screw_mcmaster_92360a252.sldprt.stl" />
         </geometry>
         <material name="10-32_x_0.75in_buttonhead_locking_screw_mcmaster_92360a252.sldprt_material">
            <color rgba="0.776471 0.756863 0.737255 1.0" />
         </material>
      </collision> -->
        <!-- <visual>
         <origin xyz="0.149718 -0.0556991 -0.0121898" rpy="1.16453 -1.5708 0" />
         <geometry>
            <mesh filename="package://right_arm_urdf/meshes/92290a752_type_316_ss_socket_head_cap_screw.stl" />
         </geometry>
         <material name="92290a752_type_316_ss_socket_head_cap_screw_material">
            <color rgba="0.956863 0.956863 0.956863 1.0" />
         </material>
      </visual> 
      <collision>
         <origin xyz="0.149718 -0.0556991 -0.0121898" rpy="1.16453 -1.5708 0" />
         <geometry>
            <mesh filename="package://right_arm_urdf/meshes/92290a752_type_316_ss_socket_head_cap_screw.stl" />
         </geometry>
         <material name="92290a752_type_316_ss_socket_head_cap_screw_material">
            <color rgba="0.956863 0.956863 0.956863 1.0" />
         </material>
      </collision> -->
        <!-- <visual>
         <origin xyz="0.143395 -0.0703968 -0.0121898" rpy="1.16453 -1.5708 0" />
         <geometry>
            <mesh filename="package://right_arm_urdf/meshes/92290a752_type_316_ss_socket_head_cap_screw.stl" />
         </geometry>
         <material name="92290a752_type_316_ss_socket_head_cap_screw_material">
            <color rgba="0.956863 0.956863 0.956863 1.0" />
         </material>
      </visual> 
      <collision>
         <origin xyz="0.143395 -0.0703968 -0.0121898" rpy="1.16453 -1.5708 0" />
         <geometry>
            <mesh filename="package://right_arm_urdf/meshes/92290a752_type_316_ss_socket_head_cap_screw.stl" />
         </geometry>
         <material name="92290a752_type_316_ss_socket_head_cap_screw_material">
            <color rgba="0.956863 0.956863 0.956863 1.0" />
         </material>
      </collision> -->
        
<inertial>
            <origin xyz="0 0 0" rpy="0 0 0" />
            <mass value="5" />
            <inertia ixx="0" ixy="0" ixz="0" iyy="0" iyz="0" izz="0" />
        </inertial>

    </link>
    <link name="link_forearm">
        <visual>
            <origin xyz="1.20737e-15 -0.138038 0.042" rpy="1.5708 9.41414e-15 -6.47612e-15" />
            <geometry>
                <mesh filename="package://right_arm_urdf/meshes/wristmountbracket.stl" />
            </geometry>
            <material name="wristmountbracket_material">
                <color rgba="0.411765 0.411765 0.411765 1.0" />
            </material>
        </visual>
        <collision>
            <origin xyz="1.20737e-15 -0.138038 0.042" rpy="1.5708 9.41414e-15 -6.47612e-15" />
            <geometry>
                <mesh filename="package://right_arm_urdf/meshes/wristmountbracket.stl" />
            </geometry>
            <material name="wristmountbracket_material">
                <color rgba="0.411765 0.411765 0.411765 1.0" />
            </material>
        </collision>
        <!-- <visual>
         <origin xyz="-0.011 -0.1501 0.062" rpy="-9.46704e-15 -1.5708 0" />
         <geometry>
            <mesh filename="package://right_arm_urdf/meshes/92290a752_type_316_ss_socket_head_cap_screw.stl" />
         </geometry>
         <material name="92290a752_type_316_ss_socket_head_cap_screw_material">
            <color rgba="0.956863 0.956863 0.956863 1.0" />
         </material>
      </visual>
      <collision>
         <origin xyz="-0.011 -0.1501 0.062" rpy="-9.46704e-15 -1.5708 0" />
         <geometry>
            <mesh filename="package://right_arm_urdf/meshes/92290a752_type_316_ss_socket_head_cap_screw.stl" />
         </geometry>
         <material name="92290a752_type_316_ss_socket_head_cap_screw_material">
            <color rgba="0.956863 0.956863 0.956863 1.0" />
         </material>
      </collision> -->
        <visual>
            <origin xyz="1.52656e-15 -0.0793 0.0674" rpy="1.5708 -0.394966 3.14159" />
            <geometry>
                <mesh filename="package://right_arm_urdf/meshes/forearmbodystandoff.stl" />
            </geometry>
            <material name="forearmbodystandoff_material">
                <color rgba="0.956863 0.956863 0.956863 1.0" />
            </material>
        </visual>
        <collision>
            <origin xyz="1.52656e-15 -0.0793 0.0674" rpy="1.5708 -0.394966 3.14159" />
            <geometry>
                <mesh filename="package://right_arm_urdf/meshes/forearmbodystandoff.stl" />
            </geometry>
            <material name="forearmbodystandoff_material">
                <color rgba="0.956863 0.956863 0.956863 1.0" />
            </material>
        </collision>
        <!-- <visual>
         <origin xyz="-0.011 -0.1501 0.022" rpy="-9.46704e-15 -1.5708 0" />
         <geometry>
            <mesh filename="package://right_arm_urdf/meshes/92290a752_type_316_ss_socket_head_cap_screw.stl" />
         </geometry>
         <material name="92290a752_type_316_ss_socket_head_cap_screw_material">
            <color rgba="0.956863 0.956863 0.956863 1.0" />
         </material>
      </visual>
      <collision>
         <origin xyz="-0.011 -0.1501 0.022" rpy="-9.46704e-15 -1.5708 0" />
         <geometry>
            <mesh filename="package://right_arm_urdf/meshes/92290a752_type_316_ss_socket_head_cap_screw.stl" />
         </geometry>
         <material name="92290a752_type_316_ss_socket_head_cap_screw_material">
            <color rgba="0.956863 0.956863 0.956863 1.0" />
         </material>
      </collision> -->
        <visual>
            <origin xyz="7.91034e-16 -0.0793 0.0166" rpy="-1.5708 -0.420447 -2.62187e-15" />
            <geometry>
                <mesh filename="package://right_arm_urdf/meshes/forearmbodystandoff.stl" />
            </geometry>
            <material name="forearmbodystandoff_material">
                <color rgba="0.956863 0.956863 0.956863 1.0" />
            </material>
        </visual>
        <collision>
            <origin xyz="7.91034e-16 -0.0793 0.0166" rpy="-1.5708 -0.420447 -2.62187e-15" />
            <geometry>
                <mesh filename="package://right_arm_urdf/meshes/forearmbodystandoff.stl" />
            </geometry>
            <material name="forearmbodystandoff_material">
                <color rgba="0.956863 0.956863 0.956863 1.0" />
            </material>
        </collision>
        <visual>
            <origin xyz="5.13478e-16 -0.155038 0.03" rpy="1.5708 -1.03236e-14 3.14159" />
            <geometry>
                <mesh filename="package://right_arm_urdf/meshes/dc12_w-idle_alt2_36.stl" />
            </geometry>
            <material name="dc12_w-idle_alt2_36_material">
                <color rgba="0.105882 0.372549 0.666667 1.0" />
            </material>
        </visual>
        <collision>
            <origin xyz="5.13478e-16 -0.155038 0.03" rpy="1.5708 -1.03236e-14 3.14159" />
            <geometry>
                <mesh filename="package://right_arm_urdf/meshes/dc12_w-idle_alt2_36.stl" />
            </geometry>
            <material name="dc12_w-idle_alt2_36_material">
                <color rgba="0.105882 0.372549 0.666667 1.0" />
            </material>
        </collision>
        <!-- <visual>
         <origin xyz="6.93889e-16 -0.0227596 0.0674" rpy="-3.14159 1.5708 0" />
         <geometry>
            <mesh filename="package://right_arm_urdf/meshes/10-32_x_0.75in_buttonhead_locking_screw_mcmaster_92360a252.sldprt.stl" />
         </geometry>
         <material name="10-32_x_0.75in_buttonhead_locking_screw_mcmaster_92360a252.sldprt_material">
            <color rgba="0.776471 0.756863 0.737255 1.0" />
         </material>
      </visual>
      <collision>
         <origin xyz="6.93889e-16 -0.0227596 0.0674" rpy="-3.14159 1.5708 0" />
         <geometry>
            <mesh filename="package://right_arm_urdf/meshes/10-32_x_0.75in_buttonhead_locking_screw_mcmaster_92360a252.sldprt.stl" />
         </geometry>
         <material name="10-32_x_0.75in_buttonhead_locking_screw_mcmaster_92360a252.sldprt_material">
            <color rgba="0.776471 0.756863 0.737255 1.0" />
         </material>
      </collision> -->
        <!-- <visual>
         <origin xyz="0.011 -0.1501 0.022" rpy="-9.46704e-15 -1.5708 0" />
         <geometry>
            <mesh filename="package://right_arm_urdf/meshes/92290a752_type_316_ss_socket_head_cap_screw.stl" />
         </geometry>
         <material name="92290a752_type_316_ss_socket_head_cap_screw_material">
            <color rgba="0.956863 0.956863 0.956863 1.0" />
         </material>
      </visual>
      <collision>
         <origin xyz="0.011 -0.1501 0.022" rpy="-9.46704e-15 -1.5708 0" />
         <geometry>
            <mesh filename="package://right_arm_urdf/meshes/92290a752_type_316_ss_socket_head_cap_screw.stl" />
         </geometry>
         <material name="92290a752_type_316_ss_socket_head_cap_screw_material">
            <color rgba="0.956863 0.956863 0.956863 1.0" />
         </material>
      </collision> -->
        <visual>
            <origin xyz="0 -0.0269125 0.042" rpy="-1.5708 -1.5708 0" />
            <geometry>
                <mesh filename="package://right_arm_urdf/meshes/elbowjointbracket.stl" />
            </geometry>
            <material name="elbowjointbracket_material">
                <color rgba="0.411765 0.411765 0.411765 1.0" />
            </material>
        </visual>
        <collision>
            <origin xyz="0 -0.0269125 0.042" rpy="-1.5708 -1.5708 0" />
            <geometry>
                <mesh filename="package://right_arm_urdf/meshes/elbowjointbracket.stl" />
            </geometry>
            <material name="elbowjointbracket_material">
                <color rgba="0.411765 0.411765 0.411765 1.0" />
            </material>
        </collision>
        <!-- <visual>
         <origin xyz="0.011 -0.1501 0.062" rpy="-9.46704e-15 -1.5708 0" />
         <geometry>
            <mesh filename="package://right_arm_urdf/meshes/92290a752_type_316_ss_socket_head_cap_screw.stl" />
         </geometry>
         <material name="92290a752_type_316_ss_socket_head_cap_screw_material">
            <color rgba="0.956863 0.956863 0.956863 1.0" />
         </material>
      </visual>
      <collision>
         <origin xyz="0.011 -0.1501 0.062" rpy="-9.46704e-15 -1.5708 0" />
         <geometry>
            <mesh filename="package://right_arm_urdf/meshes/92290a752_type_316_ss_socket_head_cap_screw.stl" />
         </geometry>
         <material name="92290a752_type_316_ss_socket_head_cap_screw_material">
            <color rgba="0.956863 0.956863 0.956863 1.0" />
         </material>
      </collision> -->
        <!-- <visual>
         <origin xyz="1.17961e-15 -0.0227596 0.0166" rpy="-3.14159 1.5708 0" />
         <geometry>
            <mesh filename="package://right_arm_urdf/meshes/10-32_x_0.75in_buttonhead_locking_screw_mcmaster_92360a252.sldprt.stl" />
         </geometry>
         <material name="10-32_x_0.75in_buttonhead_locking_screw_mcmaster_92360a252.sldprt_material">
            <color rgba="0.776471 0.756863 0.737255 1.0" />
         </material>
      </visual>
      <collision>
         <origin xyz="1.17961e-15 -0.0227596 0.0166" rpy="-3.14159 1.5708 0" />
         <geometry>
            <mesh filename="package://right_arm_urdf/meshes/10-32_x_0.75in_buttonhead_locking_screw_mcmaster_92360a252.sldprt.stl" />
         </geometry>
         <material name="10-32_x_0.75in_buttonhead_locking_screw_mcmaster_92360a252.sldprt_material">
            <color rgba="0.776471 0.756863 0.737255 1.0" />
         </material>
      </collision> -->
        
<inertial>
            <origin xyz="0 0 0" rpy="0 0 0" />
            <mass value="5" />
            <inertia ixx="0" ixy="0" ixz="0" iyy="0" iyz="0" izz="0" />
        </inertial>

    </link>
    <link name="link_claw">
        <!-- <visual>
         <origin xyz="-0.0335459 -0.0240206 -0.0576" rpy="-1.5708 -3.17064e-14 -0.523599" />
         <geometry>
            <mesh filename="package://right_arm_urdf/meshes/nut2_m2_5_1.stl" />
         </geometry>
         <material name="nut2_m2_5_1_material">
            <color rgba="0.376471 0.415686 0.45098 1.0" />
         </material>
      </visual>
      <collision>
         <origin xyz="-0.0335459 -0.0240206 -0.0576" rpy="-1.5708 -3.17064e-14 -0.523599" />
         <geometry>
            <mesh filename="package://right_arm_urdf/meshes/nut2_m2_5_1.stl" />
         </geometry>
         <material name="nut2_m2_5_1_material">
            <color rgba="0.376471 0.415686 0.45098 1.0" />
         </material>
      </collision> -->
        <visual>
            <origin xyz="0.0370809 -0.0001 -0.0438" rpy="1.5708 -3.83243e-14 0.3817" />
            <geometry>
                <mesh filename="package://right_arm_urdf/meshes/pr33_ifb-a01.stl" />
            </geometry>
            <material name="pr33_ifb-a01_material">
                <color rgba="0.85098 0.756863 0.870588 1.0" />
            </material>
        </visual>
        <collision>
            <origin xyz="0.0370809 -0.0001 -0.0438" rpy="1.5708 -3.83243e-14 0.3817" />
            <geometry>
                <mesh filename="package://right_arm_urdf/meshes/pr33_ifb-a01.stl" />
            </geometry>
            <material name="pr33_ifb-a01_material">
                <color rgba="0.85098 0.756863 0.870588 1.0" />
            </material>
        </collision>
        <!-- <visual>
         <origin xyz="-0.0110311 -0.00805897 -0.0365" rpy="1.50545e-17 -1.04441e-16 3.14159" />
         <geometry>
            <mesh filename="package://right_arm_urdf/meshes/wbh_m2_5x10.stl" />
         </geometry>
         <material name="wbh_m2_5x10_material">
            <color rgba="0.376471 0.415686 0.45098 1.0" />
         </material>
      </visual>
      <collision>
         <origin xyz="-0.0110311 -0.00805897 -0.0365" rpy="1.50545e-17 -1.04441e-16 3.14159" />
         <geometry>
            <mesh filename="package://right_arm_urdf/meshes/wbh_m2_5x10.stl" />
         </geometry>
         <material name="wbh_m2_5x10_material">
            <color rgba="0.376471 0.415686 0.45098 1.0" />
         </material>
      </collision> -->
        <visual>
            <origin xyz="0.0225809 -0.0001 -0.0980657" rpy="-9.23739e-15 1.5708 0" />
            <geometry>
                <mesh filename="package://right_arm_urdf/meshes/pr33_spd-a01.stl" />
            </geometry>
            <material name="pr33_spd-a01_material">
                <color rgba="1 0.756863 0.054902 1.0" />
            </material>
        </visual>
        <collision>
            <origin xyz="0.0225809 -0.0001 -0.0980657" rpy="-9.23739e-15 1.5708 0" />
            <geometry>
                <mesh filename="package://right_arm_urdf/meshes/pr33_spd-a01.stl" />
            </geometry>
            <material name="pr33_spd-a01_material">
                <color rgba="1 0.756863 0.054902 1.0" />
            </material>
        </collision>
        <!-- <visual>
         <origin xyz="-0.027 -0.0241 -0.0446" rpy="1.5708 3.26624e-14 1.5708" />
         <geometry>
            <mesh filename="package://right_arm_urdf/meshes/wbh_m2_5x8.stl" />
         </geometry>
         <material name="wbh_m2_5x8_material">
            <color rgba="1 0.756863 0.054902 1.0" />
         </material>
      </visual>
      <collision>
         <origin xyz="-0.027 -0.0241 -0.0446" rpy="1.5708 3.26624e-14 1.5708" />
         <geometry>
            <mesh filename="package://right_arm_urdf/meshes/wbh_m2_5x8.stl" />
         </geometry>
         <material name="wbh_m2_5x8_material">
            <color rgba="1 0.756863 0.054902 1.0" />
         </material>
      </collision> -->
        <visual>
            <origin xyz="-0.0245 -0.0001 -0.0536" rpy="3.14159 1.5708 0" />
            <geometry>
                <mesh filename="package://right_arm_urdf/meshes/igp-a01_open.stl" />
            </geometry>
            <material name="igp-a01_open_material">
                <color rgba="0.603922 0.647059 0.686275 1.0" />
            </material>
        </visual>
        <collision>
            <origin xyz="-0.0245 -0.0001 -0.0536" rpy="3.14159 1.5708 0" />
            <geometry>
                <mesh filename="package://right_arm_urdf/meshes/igp-a01_open.stl" />
            </geometry>
            <material name="igp-a01_open_material">
                <color rgba="0.603922 0.647059 0.686275 1.0" />
            </material>
        </collision>
        <!-- <visual>
         <origin xyz="-2.15407e-05 -0.00799997 -0.038" rpy="-5.9304e-15 -1.79614e-14 1.5681" />
         <geometry>
            <mesh filename="package://right_arm_urdf/meshes/wbh_m2x4_1.stl" />
         </geometry>
         <material name="wbh_m2x4_1_material">
            <color rgba="0.85098 0.756863 0.870588 1.0" />
         </material>
      </visual>
      <collision>
         <origin xyz="-2.15407e-05 -0.00799997 -0.038" rpy="-5.9304e-15 -1.79614e-14 1.5681" />
         <geometry>
            <mesh filename="package://right_arm_urdf/meshes/wbh_m2x4_1.stl" />
         </geometry>
         <material name="wbh_m2x4_1_material">
            <color rgba="0.85098 0.756863 0.870588 1.0" />
         </material>
      </collision> -->
        <!-- <visual>
         <origin xyz="0.0335809 0.0239 -0.0511" rpy="3.14159 1.76359e-16 1.93389e-18" />
         <geometry>
            <mesh filename="package://right_arm_urdf/meshes/wbh_m2_5x8.stl" />
         </geometry>
         <material name="wbh_m2_5x8_material">
            <color rgba="1 0.756863 0.054902 1.0" />
         </material>
      </visual>
      <collision>
         <origin xyz="0.0335809 0.0239 -0.0511" rpy="3.14159 1.76359e-16 1.93389e-18" />
         <geometry>
            <mesh filename="package://right_arm_urdf/meshes/wbh_m2_5x8.stl" />
         </geometry>
         <material name="wbh_m2_5x8_material">
            <color rgba="1 0.756863 0.054902 1.0" />
         </material>
      </collision> -->
        <visual>
            <origin xyz="0.0370809 -0.0001 -0.0395" rpy="1.50545e-17 -1.04441e-16 3.14159" />
            <geometry>
                <mesh filename="package://right_arm_urdf/meshes/ibl-a01_open.stl" />
            </geometry>
            <material name="ibl-a01_open_material">
                <color rgba="0.376471 0.415686 0.45098 1.0" />
            </material>
        </visual>
        <collision>
            <origin xyz="0.0370809 -0.0001 -0.0395" rpy="1.50545e-17 -1.04441e-16 3.14159" />
            <geometry>
                <mesh filename="package://right_arm_urdf/meshes/ibl-a01_open.stl" />
            </geometry>
            <material name="ibl-a01_open_material">
                <color rgba="0.376471 0.415686 0.45098 1.0" />
            </material>
        </collision>
        <visual>
            <origin xyz="0.011 0.032 -0.0028" rpy="-1.5708 -1.1664e-14 3.14159" />
            <geometry>
                <mesh filename="package://right_arm_urdf/meshes/dc12_a01_spacer_ring.stl" />
            </geometry>
            <material name="dc12_a01_spacer_ring_material">
                <color rgba="0.603922 0.647059 0.686275 1.0" />
            </material>
        </visual>
        <collision>
            <origin xyz="0.011 0.032 -0.0028" rpy="-1.5708 -1.1664e-14 3.14159" />
            <geometry>
                <mesh filename="package://right_arm_urdf/meshes/dc12_a01_spacer_ring.stl" />
            </geometry>
            <material name="dc12_a01_spacer_ring_material">
                <color rgba="0.603922 0.647059 0.686275 1.0" />
            </material>
        </collision>
        <visual>
            <origin xyz="-0.011 0.032 -0.0028" rpy="-1.5708 -1.1664e-14 3.14159" />
            <geometry>
                <mesh filename="package://right_arm_urdf/meshes/dc12_a01_spacer_ring.stl" />
            </geometry>
            <material name="dc12_a01_spacer_ring_material">
                <color rgba="0.603922 0.647059 0.686275 1.0" />
            </material>
        </visual>
        <collision>
            <origin xyz="-0.011 0.032 -0.0028" rpy="-1.5708 -1.1664e-14 3.14159" />
            <geometry>
                <mesh filename="package://right_arm_urdf/meshes/dc12_a01_spacer_ring.stl" />
            </geometry>
            <material name="dc12_a01_spacer_ring_material">
                <color rgba="0.603922 0.647059 0.686275 1.0" />
            </material>
        </collision>
        <visual>
            <origin xyz="0.0245809 -0.0001 -0.0536" rpy="-9.23739e-15 1.5708 0" />
            <geometry>
                <mesh filename="package://right_arm_urdf/meshes/igp-a01_open.stl" />
            </geometry>
            <material name="igp-a01_open_material">
                <color rgba="0.603922 0.647059 0.686275 1.0" />
            </material>
        </visual>
        <collision>
            <origin xyz="0.0245809 -0.0001 -0.0536" rpy="-9.23739e-15 1.5708 0" />
            <geometry>
                <mesh filename="package://right_arm_urdf/meshes/igp-a01_open.stl" />
            </geometry>
            <material name="igp-a01_open_material">
                <color rgba="0.603922 0.647059 0.686275 1.0" />
            </material>
        </collision>
        <!-- <visual>
         <origin xyz="0.0335809 -0.0241 -0.0511" rpy="3.14159 1.76359e-16 1.93389e-18" />
         <geometry>
            <mesh filename="package://right_arm_urdf/meshes/wbh_m2_5x8.stl" />
         </geometry>
         <material name="wbh_m2_5x8_material">
            <color rgba="1 0.756863 0.054902 1.0" />
         </material>
      </visual>
      <collision>
         <origin xyz="0.0335809 -0.0241 -0.0511" rpy="3.14159 1.76359e-16 1.93389e-18" />
         <geometry>
            <mesh filename="package://right_arm_urdf/meshes/wbh_m2_5x8.stl" />
         </geometry>
         <material name="wbh_m2_5x8_material">
            <color rgba="1 0.756863 0.054902 1.0" />
         </material>
      </collision> -->
        <visual>
            <origin xyz="-4.03889e-05 -0.0149999 -0.0478" rpy="-3.14159 -6.73621e-15 -2.75989" />
            <geometry>
                <mesh filename="package://right_arm_urdf/meshes/pr33_ilr-a01.stl" />
            </geometry>
            <material name="pr33_ilr-a01_material">
                <color rgba="0.811765 0.858824 0.898039 1.0" />
            </material>
        </visual>
        <collision>
            <origin xyz="-4.03889e-05 -0.0149999 -0.0478" rpy="-3.14159 -6.73621e-15 -2.75989" />
            <geometry>
                <mesh filename="package://right_arm_urdf/meshes/pr33_ilr-a01.stl" />
            </geometry>
            <material name="pr33_ilr-a01_material">
                <color rgba="0.811765 0.858824 0.898039 1.0" />
            </material>
        </collision>
        <!-- <visual>
         <origin xyz="0.0270809 -0.0241 -0.0446" rpy="1.5708 7.77286e-14 -1.5708" />
         <geometry>
            <mesh filename="package://right_arm_urdf/meshes/wbh_m2_5x8.stl" />
         </geometry>
         <material name="wbh_m2_5x8_material">
            <color rgba="1 0.756863 0.054902 1.0" />
         </material>
      </visual>
      <collision>
         <origin xyz="0.0270809 -0.0241 -0.0446" rpy="1.5708 7.77286e-14 -1.5708" />
         <geometry>
            <mesh filename="package://right_arm_urdf/meshes/wbh_m2_5x8.stl" />
         </geometry>
         <material name="wbh_m2_5x8_material">
            <color rgba="1 0.756863 0.054902 1.0" />
         </material>
      </collision> -->
        <!-- <visual>
         <origin xyz="0.01095 0.032 -0.0365" rpy="1.50545e-17 -1.04441e-16 3.14159" />
         <geometry>
            <mesh filename="package://right_arm_urdf/meshes/wbh_m2_5x10.stl" />
         </geometry>
         <material name="wbh_m2_5x10_material">
            <color rgba="0.376471 0.415686 0.45098 1.0" />
         </material>
      </visual>
      <collision>
         <origin xyz="0.01095 0.032 -0.0365" rpy="1.50545e-17 -1.04441e-16 3.14159" />
         <geometry>
            <mesh filename="package://right_arm_urdf/meshes/wbh_m2_5x10.stl" />
         </geometry>
         <material name="wbh_m2_5x10_material">
            <color rgba="0.376471 0.415686 0.45098 1.0" />
         </material>
      </collision> -->
        <visual>
            <origin xyz="4.03889e-05 0.0149999 -0.0478" rpy="3.14159 5.42538e-15 0.387094" />
            <geometry>
                <mesh filename="package://right_arm_urdf/meshes/pr33_ilr-a01.stl" />
            </geometry>
            <material name="pr33_ilr-a01_material">
                <color rgba="0.811765 0.858824 0.898039 1.0" />
            </material>
        </visual>
        <collision>
            <origin xyz="4.03889e-05 0.0149999 -0.0478" rpy="3.14159 5.42538e-15 0.387094" />
            <geometry>
                <mesh filename="package://right_arm_urdf/meshes/pr33_ilr-a01.stl" />
            </geometry>
            <material name="pr33_ilr-a01_material">
                <color rgba="0.811765 0.858824 0.898039 1.0" />
            </material>
        </collision>
        <!-- <visual>
         <origin xyz="-0.01675 0.004 -0.011" rpy="-9.23739e-15 1.5708 0" />
         <geometry>
            <mesh filename="package://right_arm_urdf/meshes/wbh_m2_5x4_1.stl" />
         </geometry>
         <material name="wbh_m2_5x4_1_material">
            <color rgba="0.85098 0.756863 0.870588 1.0" />
         </material>
      </visual>
      <collision>
         <origin xyz="-0.01675 0.004 -0.011" rpy="-9.23739e-15 1.5708 0" />
         <geometry>
            <mesh filename="package://right_arm_urdf/meshes/wbh_m2_5x4_1.stl" />
         </geometry>
         <material name="wbh_m2_5x4_1_material">
            <color rgba="0.85098 0.756863 0.870588 1.0" />
         </material>
      </collision> -->
        <!-- <visual>
         <origin xyz="-0.01675 0.028 -0.011" rpy="1.5708 3.26624e-14 1.5708" />
         <geometry>
            <mesh filename="package://right_arm_urdf/meshes/wbh_m2_5x4_1.stl" />
         </geometry>
         <material name="wbh_m2_5x4_1_material">
            <color rgba="0.85098 0.756863 0.870588 1.0" />
         </material>
      </visual>
      <collision>
         <origin xyz="-0.01675 0.028 -0.011" rpy="1.5708 3.26624e-14 1.5708" />
         <geometry>
            <mesh filename="package://right_arm_urdf/meshes/wbh_m2_5x4_1.stl" />
         </geometry>
         <material name="wbh_m2_5x4_1_material">
            <color rgba="0.85098 0.756863 0.870588 1.0" />
         </material>
      </collision> -->
        <!-- <visual>
         <origin xyz="0.0336268 0.0238206 -0.0576" rpy="-1.5708 3.21415e-14 2.61799" />
         <geometry>
            <mesh filename="package://right_arm_urdf/meshes/nut2_m2_5_1.stl" />
         </geometry>
         <material name="nut2_m2_5_1_material">
            <color rgba="0.376471 0.415686 0.45098 1.0" />
         </material>
      </visual>
      <collision>
         <origin xyz="0.0336268 0.0238206 -0.0576" rpy="-1.5708 3.21415e-14 2.61799" />
         <geometry>
            <mesh filename="package://right_arm_urdf/meshes/nut2_m2_5_1.stl" />
         </geometry>
         <material name="nut2_m2_5_1_material">
            <color rgba="0.376471 0.415686 0.45098 1.0" />
         </material>
      </collision> -->
        <!-- <visual>
         <origin xyz="-0.00799997 2.15407e-05 -0.038" rpy="-5.9304e-15 -1.79614e-14 1.5681" />
         <geometry>
            <mesh filename="package://right_arm_urdf/meshes/wbh_m2x4_1.stl" />
         </geometry>
         <material name="wbh_m2x4_1_material">
            <color rgba="0.85098 0.756863 0.870588 1.0" />
         </material>
      </visual>
      <collision>
         <origin xyz="-0.00799997 2.15407e-05 -0.038" rpy="-5.9304e-15 -1.79614e-14 1.5681" />
         <geometry>
            <mesh filename="package://right_arm_urdf/meshes/wbh_m2x4_1.stl" />
         </geometry>
         <material name="wbh_m2x4_1_material">
            <color rgba="0.85098 0.756863 0.870588 1.0" />
         </material>
      </collision> -->
        <!-- <visual>
         <origin xyz="-0.0205 0.0239 -0.0446" rpy="3.14159 1.0472 1.5708" />
         <geometry>
            <mesh filename="package://right_arm_urdf/meshes/nut2_m2_5_1.stl" />
         </geometry>
         <material name="nut2_m2_5_1_material">
            <color rgba="0.376471 0.415686 0.45098 1.0" />
         </material>
      </visual>
      <collision>
         <origin xyz="-0.0205 0.0239 -0.0446" rpy="3.14159 1.0472 1.5708" />
         <geometry>
            <mesh filename="package://right_arm_urdf/meshes/nut2_m2_5_1.stl" />
         </geometry>
         <material name="nut2_m2_5_1_material">
            <color rgba="0.376471 0.415686 0.45098 1.0" />
         </material>
      </collision> -->
        <visual>
            <origin xyz="-8.39606e-16 6.38378e-16 -0.0395" rpy="5.63805e-15 1.82309e-14 -1.57349" />
            <geometry>
                <mesh filename="package://right_arm_urdf/meshes/pr33_ica-a01.stl" />
            </geometry>
            <material name="pr33_ica-a01_material">
                <color rgba="0.866667 0.321569 0.156863 1.0" />
            </material>
        </visual>
        <collision>
            <origin xyz="-8.39606e-16 6.38378e-16 -0.0395" rpy="5.63805e-15 1.82309e-14 -1.57349" />
            <geometry>
                <mesh filename="package://right_arm_urdf/meshes/pr33_ica-a01.stl" />
            </geometry>
            <material name="pr33_ica-a01_material">
                <color rgba="0.866667 0.321569 0.156863 1.0" />
            </material>
        </collision>
        <!-- <visual>
         <origin xyz="-0.0335459 0.0239794 -0.0576" rpy="-1.5708 -3.17064e-14 -0.523599" />
         <geometry>
            <mesh filename="package://right_arm_urdf/meshes/nut2_m2_5_1.stl" />
         </geometry>
         <material name="nut2_m2_5_1_material">
            <color rgba="0.376471 0.415686 0.45098 1.0" />
         </material>
      </visual>
      <collision>
         <origin xyz="-0.0335459 0.0239794 -0.0576" rpy="-1.5708 -3.17064e-14 -0.523599" />
         <geometry>
            <mesh filename="package://right_arm_urdf/meshes/nut2_m2_5_1.stl" />
         </geometry>
         <material name="nut2_m2_5_1_material">
            <color rgba="0.376471 0.415686 0.45098 1.0" />
         </material>
      </collision> -->
        <visual>
            <origin xyz="-0.011 -0.008 -0.00265" rpy="-1.5708 -1.1664e-14 3.14159" />
            <geometry>
                <mesh filename="package://right_arm_urdf/meshes/dc12_a01_spacer_ring.stl" />
            </geometry>
            <material name="dc12_a01_spacer_ring_material">
                <color rgba="0.603922 0.647059 0.686275 1.0" />
            </material>
        </visual>
        <collision>
            <origin xyz="-0.011 -0.008 -0.00265" rpy="-1.5708 -1.1664e-14 3.14159" />
            <geometry>
                <mesh filename="package://right_arm_urdf/meshes/dc12_a01_spacer_ring.stl" />
            </geometry>
            <material name="dc12_a01_spacer_ring_material">
                <color rgba="0.603922 0.647059 0.686275 1.0" />
            </material>
        </collision>
        <!-- <visual>
         <origin xyz="0.00799997 -2.15407e-05 -0.038" rpy="-5.9304e-15 -1.79614e-14 1.5681" />
         <geometry>
            <mesh filename="package://right_arm_urdf/meshes/wbh_m2x4_1.stl" />
         </geometry>
         <material name="wbh_m2x4_1_material">
            <color rgba="0.85098 0.756863 0.870588 1.0" />
         </material>
      </visual>
      <collision>
         <origin xyz="0.00799997 -2.15407e-05 -0.038" rpy="-5.9304e-15 -1.79614e-14 1.5681" />
         <geometry>
            <mesh filename="package://right_arm_urdf/meshes/wbh_m2x4_1.stl" />
         </geometry>
         <material name="wbh_m2x4_1_material">
            <color rgba="0.85098 0.756863 0.870588 1.0" />
         </material>
      </collision> -->
        <visual>
            <origin xyz="4.03889e-05 0.0149999 -0.0438" rpy="1.5708 4.95956e-14 1.95789" />
            <geometry>
                <mesh filename="package://right_arm_urdf/meshes/pr33_ifb-a01.stl" />
            </geometry>
            <material name="pr33_ifb-a01_material">
                <color rgba="0.85098 0.756863 0.870588 1.0" />
            </material>
        </visual>
        <collision>
            <origin xyz="4.03889e-05 0.0149999 -0.0438" rpy="1.5708 4.95956e-14 1.95789" />
            <geometry>
                <mesh filename="package://right_arm_urdf/meshes/pr33_ifb-a01.stl" />
            </geometry>
            <material name="pr33_ifb-a01_material">
                <color rgba="0.85098 0.756863 0.870588 1.0" />
            </material>
        </collision>
        <!-- <visual>
         <origin xyz="0.01095 -0.008 -0.0365" rpy="1.50545e-17 -1.04441e-16 3.14159" />
         <geometry>
            <mesh filename="package://right_arm_urdf/meshes/wbh_m2_5x10.stl" />
         </geometry>
         <material name="wbh_m2_5x10_material">
            <color rgba="0.376471 0.415686 0.45098 1.0" />
         </material>
      </visual>
      <collision>
         <origin xyz="0.01095 -0.008 -0.0365" rpy="1.50545e-17 -1.04441e-16 3.14159" />
         <geometry>
            <mesh filename="package://right_arm_urdf/meshes/wbh_m2_5x10.stl" />
         </geometry>
         <material name="wbh_m2_5x10_material">
            <color rgba="0.376471 0.415686 0.45098 1.0" />
         </material>
      </collision> -->
        <!-- <visual>
         <origin xyz="-0.037139 -7.50014e-05 -0.03955" rpy="1.5708 -5.17004e-14 0.523599" />
         <geometry>
            <mesh filename="package://right_arm_urdf/meshes/nut2_m3.stl" />
         </geometry>
         <material name="nut2_m3_material">
            <color rgba="0.866667 0.321569 0.156863 1.0" />
         </material>
      </visual>
      <collision>
         <origin xyz="-0.037139 -7.50014e-05 -0.03955" rpy="1.5708 -5.17004e-14 0.523599" />
         <geometry>
            <mesh filename="package://right_arm_urdf/meshes/nut2_m3.stl" />
         </geometry>
         <material name="nut2_m3_material">
            <color rgba="0.866667 0.321569 0.156863 1.0" />
         </material>
      </collision> -->
        <!-- <visual>
         <origin xyz="-0.0205 -0.0241 -0.0446" rpy="1.30714e-13 -1.0472 -1.5708" />
         <geometry>
            <mesh filename="package://right_arm_urdf/meshes/nut2_m2_5_1.stl" />
         </geometry>
         <material name="nut2_m2_5_1_material">
            <color rgba="0.376471 0.415686 0.45098 1.0" />
         </material>
      </visual>
      <collision>
         <origin xyz="-0.0205 -0.0241 -0.0446" rpy="1.30714e-13 -1.0472 -1.5708" />
         <geometry>
            <mesh filename="package://right_arm_urdf/meshes/nut2_m2_5_1.stl" />
         </geometry>
         <material name="nut2_m2_5_1_material">
            <color rgba="0.376471 0.415686 0.45098 1.0" />
         </material>
      </collision> -->
        <visual>
            <origin xyz="-0.0225 -0.0001 -0.0980657" rpy="9.08972e-15 -1.5708 0" />
            <geometry>
                <mesh filename="package://right_arm_urdf/meshes/pr33_spd-a01.stl" />
            </geometry>
            <material name="pr33_spd-a01_material">
                <color rgba="1 0.756863 0.054902 1.0" />
            </material>
        </visual>
        <collision>
            <origin xyz="-0.0225 -0.0001 -0.0980657" rpy="9.08972e-15 -1.5708 0" />
            <geometry>
                <mesh filename="package://right_arm_urdf/meshes/pr33_spd-a01.stl" />
            </geometry>
            <material name="pr33_spd-a01_material">
                <color rgba="1 0.756863 0.054902 1.0" />
            </material>
        </collision>
        <!-- <visual>
         <origin xyz="0.0335809 -0.0241 -0.0576" rpy="-1.5708 -1.30208e-14 3.14159" />
         <geometry>
            <mesh filename="package://right_arm_urdf/meshes/nut2_m2_5_1.stl" />
         </geometry>
         <material name="nut2_m2_5_1_material">
            <color rgba="0.376471 0.415686 0.45098 1.0" />
         </material>
      </visual>
      <collision>
         <origin xyz="0.0335809 -0.0241 -0.0576" rpy="-1.5708 -1.30208e-14 3.14159" />
         <geometry>
            <mesh filename="package://right_arm_urdf/meshes/nut2_m2_5_1.stl" />
         </geometry>
         <material name="nut2_m2_5_1_material">
            <color rgba="0.376471 0.415686 0.45098 1.0" />
         </material>
      </collision> -->
        <!-- <visual>
         <origin xyz="-0.0335 0.0239 -0.0511" rpy="3.14159 1.76359e-16 1.93389e-18" />
         <geometry>
            <mesh filename="package://right_arm_urdf/meshes/wbh_m2_5x8.stl" />
         </geometry>
         <material name="wbh_m2_5x8_material">
            <color rgba="1 0.756863 0.054902 1.0" />
         </material>
      </visual>
      <collision>
         <origin xyz="-0.0335 0.0239 -0.0511" rpy="3.14159 1.76359e-16 1.93389e-18" />
         <geometry>
            <mesh filename="package://right_arm_urdf/meshes/wbh_m2_5x8.stl" />
         </geometry>
         <material name="wbh_m2_5x8_material">
            <color rgba="1 0.756863 0.054902 1.0" />
         </material>
      </collision> -->
        <!-- <visual>
         <origin xyz="-0.0335 -0.0241 -0.0511" rpy="3.14159 1.76359e-16 1.93389e-18" />
         <geometry>
            <mesh filename="package://right_arm_urdf/meshes/wbh_m2_5x8.stl" />
         </geometry>
         <material name="wbh_m2_5x8_material">
            <color rgba="1 0.756863 0.054902 1.0" />
         </material>
      </visual>
      <collision>
         <origin xyz="-0.0335 -0.0241 -0.0511" rpy="3.14159 1.76359e-16 1.93389e-18" />
         <geometry>
            <mesh filename="package://right_arm_urdf/meshes/wbh_m2_5x8.stl" />
         </geometry>
         <material name="wbh_m2_5x8_material">
            <color rgba="1 0.756863 0.054902 1.0" />
         </material>
      </collision> -->
        <visual>
            <origin xyz="-0.037 -0.0001 -0.0438" rpy="1.5708 7.93185e-14 -1.1837" />
            <geometry>
                <mesh filename="package://right_arm_urdf/meshes/pr33_ifb-a01.stl" />
            </geometry>
            <material name="pr33_ifb-a01_material">
                <color rgba="0.85098 0.756863 0.870588 1.0" />
            </material>
        </visual>
        <collision>
            <origin xyz="-0.037 -0.0001 -0.0438" rpy="1.5708 7.93185e-14 -1.1837" />
            <geometry>
                <mesh filename="package://right_arm_urdf/meshes/pr33_ifb-a01.stl" />
            </geometry>
            <material name="pr33_ifb-a01_material">
                <color rgba="0.85098 0.756863 0.870588 1.0" />
            </material>
        </collision>
        <!-- <visual>
         <origin xyz="0.01675 0.028 -0.011" rpy="3.14159 1.5708 0" />
         <geometry>
            <mesh filename="package://right_arm_urdf/meshes/wbh_m2_5x4_1.stl" />
         </geometry>
         <material name="wbh_m2_5x4_1_material">
            <color rgba="0.85098 0.756863 0.870588 1.0" />
         </material>
      </visual>
      <collision>
         <origin xyz="0.01675 0.028 -0.011" rpy="3.14159 1.5708 0" />
         <geometry>
            <mesh filename="package://right_arm_urdf/meshes/wbh_m2_5x4_1.stl" />
         </geometry>
         <material name="wbh_m2_5x4_1_material">
            <color rgba="0.85098 0.756863 0.870588 1.0" />
         </material>
      </collision> -->
        <!-- <visual>
         <origin xyz="0.0205809 -0.0241 -0.0446" rpy="-1.31236e-13 1.0472 1.5708" />
         <geometry>
            <mesh filename="package://right_arm_urdf/meshes/nut2_m2_5_1.stl" />
         </geometry>
         <material name="nut2_m2_5_1_material">
            <color rgba="0.376471 0.415686 0.45098 1.0" />
         </material>
      </visual>
      <collision>
         <origin xyz="0.0205809 -0.0241 -0.0446" rpy="-1.31236e-13 1.0472 1.5708" />
         <geometry>
            <mesh filename="package://right_arm_urdf/meshes/nut2_m2_5_1.stl" />
         </geometry>
         <material name="nut2_m2_5_1_material">
            <color rgba="0.376471 0.415686 0.45098 1.0" />
         </material>
      </collision> -->
        <!-- <visual>
         <origin xyz="4.03889e-05 0.0149999 -0.0494" rpy="8.95432e-15 1.15161e-14 -1.1837" />
         <geometry>
            <mesh filename="package://right_arm_urdf/meshes/wbh_m3x10.stl" />
         </geometry>
         <material name="wbh_m3x10_material">
            <color rgba="0.564706 0.811765 0.945098 1.0" />
         </material>
      </visual>
      <collision>
         <origin xyz="4.03889e-05 0.0149999 -0.0494" rpy="8.95432e-15 1.15161e-14 -1.1837" />
         <geometry>
            <mesh filename="package://right_arm_urdf/meshes/wbh_m3x10.stl" />
         </geometry>
         <material name="wbh_m3x10_material">
            <color rgba="0.564706 0.811765 0.945098 1.0" />
         </material>
      </collision> -->
        <!-- <visual>
         <origin xyz="-0.01095 0.032 -0.0365" rpy="1.50545e-17 -1.04441e-16 3.14159" />
         <geometry>
            <mesh filename="package://right_arm_urdf/meshes/wbh_m2_5x10.stl" />
         </geometry>
         <material name="wbh_m2_5x10_material">
            <color rgba="0.376471 0.415686 0.45098 1.0" />
         </material>
      </visual>
      <collision>
         <origin xyz="-0.01095 0.032 -0.0365" rpy="1.50545e-17 -1.04441e-16 3.14159" />
         <geometry>
            <mesh filename="package://right_arm_urdf/meshes/wbh_m2_5x10.stl" />
         </geometry>
         <material name="wbh_m2_5x10_material">
            <color rgba="0.376471 0.415686 0.45098 1.0" />
         </material>
      </collision> -->
        <!-- <visual>
         <origin xyz="0.0270809 0.0239 -0.0446" rpy="1.5708 7.77286e-14 -1.5708" />
         <geometry>
            <mesh filename="package://right_arm_urdf/meshes/wbh_m2_5x8.stl" />
         </geometry>
         <material name="wbh_m2_5x8_material">
            <color rgba="1 0.756863 0.054902 1.0" />
         </material>
      </visual>
      <collision>
         <origin xyz="0.0270809 0.0239 -0.0446" rpy="1.5708 7.77286e-14 -1.5708" />
         <geometry>
            <mesh filename="package://right_arm_urdf/meshes/wbh_m2_5x8.stl" />
         </geometry>
         <material name="wbh_m2_5x8_material">
            <color rgba="1 0.756863 0.054902 1.0" />
         </material>
      </collision> -->
        <!-- <visual>
         <origin xyz="2.15407e-05 0.00799997 -0.038" rpy="-5.9304e-15 -1.79614e-14 1.5681" />
         <geometry>
            <mesh filename="package://right_arm_urdf/meshes/wbh_m2x4_1.stl" />
         </geometry>
         <material name="wbh_m2x4_1_material">
            <color rgba="0.85098 0.756863 0.870588 1.0" />
         </material>
      </visual>
      <collision>
         <origin xyz="2.15407e-05 0.00799997 -0.038" rpy="-5.9304e-15 -1.79614e-14 1.5681" />
         <geometry>
            <mesh filename="package://right_arm_urdf/meshes/wbh_m2x4_1.stl" />
         </geometry>
         <material name="wbh_m2x4_1_material">
            <color rgba="0.85098 0.756863 0.870588 1.0" />
         </material>
      </collision> -->
        <visual>
            <origin xyz="-0.037 -0.0001 -0.0395" rpy="1.21252e-17 -7.86926e-18 -2.02394e-17" />
            <geometry>
                <mesh filename="package://right_arm_urdf/meshes/ibl-a01_open.stl" />
            </geometry>
            <material name="ibl-a01_open_material">
                <color rgba="0.376471 0.415686 0.45098 1.0" />
            </material>
        </visual>
        <collision>
            <origin xyz="-0.037 -0.0001 -0.0395" rpy="1.21252e-17 -7.86926e-18 -2.02394e-17" />
            <geometry>
                <mesh filename="package://right_arm_urdf/meshes/ibl-a01_open.stl" />
            </geometry>
            <material name="ibl-a01_open_material">
                <color rgba="0.376471 0.415686 0.45098 1.0" />
            </material>
        </collision>
        <!-- 
          
       -->
        <visual>
            <origin xyz="0.01425 -7.91034e-16 -0.0395" rpy="1.21252e-17 -7.86926e-18 -2.02394e-17" />
            <geometry>
                <mesh filename="package://right_arm_urdf/meshes/irb-a02_open.stl" />
            </geometry>
            <material name="irb-a02_open_material">
                <color rgba="1 0.756863 0.054902 1.0" />
            </material>
        </visual>
        <collision>
            <origin xyz="0.01425 -7.91034e-16 -0.0395" rpy="1.21252e-17 -7.86926e-18 -2.02394e-17" />
            <geometry>
                <mesh filename="package://right_arm_urdf/meshes/irb-a02_open.stl" />
            </geometry>
            <material name="irb-a02_open_material">
                <color rgba="1 0.756863 0.054902 1.0" />
            </material>
        </collision>
        <visual>
            <origin xyz="-1.38778e-17 -1.38778e-17 -0.017" rpy="1.21252e-17 -7.86926e-18 -2.02394e-17" />
            <geometry>
                <mesh filename="package://right_arm_urdf/meshes/dc12_std.stl" />
            </geometry>
            <material name="dc12_std_material">
                <color rgba="0.105882 0.372549 0.666667 1.0" />
            </material>
        </visual>
        <collision>
            <origin xyz="-1.38778e-17 -1.38778e-17 -0.017" rpy="1.21252e-17 -7.86926e-18 -2.02394e-17" />
            <geometry>
                <mesh filename="package://right_arm_urdf/meshes/dc12_std.stl" />
            </geometry>
            <material name="dc12_std_material">
                <color rgba="0.105882 0.372549 0.666667 1.0" />
            </material>
        </collision>
        <visual>
            <origin xyz="-1.02487e-14 0.012 0.00635" rpy="3.14159 -2.10127e-14 1.5708" />
            <geometry>
                <mesh filename="package://right_arm_urdf/meshes/gripperattachment.stl" />
            </geometry>
            <material name="gripperattachment_material">
                <color rgba="0.411765 0.411765 0.411765 1.0" />
            </material>
        </visual>
        <collision>
            <origin xyz="-1.02487e-14 0.012 0.00635" rpy="3.14159 -2.10127e-14 1.5708" />
            <geometry>
                <mesh filename="package://right_arm_urdf/meshes/gripperattachment.stl" />
            </geometry>
            <material name="gripperattachment_material">
                <color rgba="0.411765 0.411765 0.411765 1.0" />
            </material>
        </collision>
        <visual>
            <origin xyz="1.66533e-16 5e-05 -0.0171" rpy="1.21252e-17 -7.86926e-18 -2.02394e-17" />
            <geometry>
                <mesh filename="package://right_arm_urdf/meshes/dc12_std_13.stl" />
            </geometry>
            <material name="dc12_std_13_material">
                <color rgba="1 0.756863 0.054902 1.0" />
            </material>
        </visual>
        <collision>
            <origin xyz="1.66533e-16 5e-05 -0.0171" rpy="1.21252e-17 -7.86926e-18 -2.02394e-17" />
            <geometry>
                <mesh filename="package://right_arm_urdf/meshes/dc12_std_13.stl" />
            </geometry>
            <material name="dc12_std_13_material">
                <color rgba="1 0.756863 0.054902 1.0" />
            </material>
        </collision>
        <visual>
            <origin xyz="0.011 -0.008 -0.0028" rpy="-1.5708 -1.1664e-14 3.14159" />
            <geometry>
                <mesh filename="package://right_arm_urdf/meshes/dc12_a01_spacer_ring.stl" />
            </geometry>
            <material name="dc12_a01_spacer_ring_material">
                <color rgba="0.603922 0.647059 0.686275 1.0" />
            </material>
        </visual>
        <collision>
            <origin xyz="0.011 -0.008 -0.0028" rpy="-1.5708 -1.1664e-14 3.14159" />
            <geometry>
                <mesh filename="package://right_arm_urdf/meshes/dc12_a01_spacer_ring.stl" />
            </geometry>
            <material name="dc12_a01_spacer_ring_material">
                <color rgba="0.603922 0.647059 0.686275 1.0" />
            </material>
        </collision>
        <!-- <visual>
         <origin xyz="0.0370809 -0.0001 -0.0494" rpy="7.45382e-15 1.11965e-14 -1.1891" />
         <geometry>
            <mesh filename="package://right_arm_urdf/meshes/wbh_m3x10.stl" />
         </geometry>
         <material name="wbh_m3x10_material">
            <color rgba="0.564706 0.811765 0.945098 1.0" />
         </material>
      </visual>
      <collision>
         <origin xyz="0.0370809 -0.0001 -0.0494" rpy="7.45382e-15 1.11965e-14 -1.1891" />
         <geometry>
            <mesh filename="package://right_arm_urdf/meshes/wbh_m3x10.stl" />
         </geometry>
         <material name="wbh_m3x10_material">
            <color rgba="0.564706 0.811765 0.945098 1.0" />
         </material>
      </collision> -->
        <!-- <visual>
         <origin xyz="0.0372199 -7.49986e-05 -0.03955" rpy="1.5708 -4.68155e-14 0.523599" />
         <geometry>
            <mesh filename="package://right_arm_urdf/meshes/nut2_m3.stl" />
         </geometry>
         <material name="nut2_m3_material">
            <color rgba="0.866667 0.321569 0.156863 1.0" />
         </material>
      </visual>
      <collision>
         <origin xyz="0.0372199 -7.49986e-05 -0.03955" rpy="1.5708 -4.68155e-14 0.523599" />
         <geometry>
            <mesh filename="package://right_arm_urdf/meshes/nut2_m3.stl" />
         </geometry>
         <material name="nut2_m3_material">
            <color rgba="0.866667 0.321569 0.156863 1.0" />
         </material>
      </collision> -->
        <!-- <visual>
         <origin xyz="4.03889e-05 0.0149999 -0.0394887" rpy="1.5708 -1.1933e-14 -0.0026926" />
         <geometry>
            <mesh filename="package://right_arm_urdf/meshes/nut2_m3.stl" />
         </geometry>
         <material name="nut2_m3_material">
            <color rgba="0.866667 0.321569 0.156863 1.0" />
         </material>
      </visual>
      <collision>
         <origin xyz="4.03889e-05 0.0149999 -0.0394887" rpy="1.5708 -1.1933e-14 -0.0026926" />
         <geometry>
            <mesh filename="package://right_arm_urdf/meshes/nut2_m3.stl" />
         </geometry>
         <material name="nut2_m3_material">
            <color rgba="0.866667 0.321569 0.156863 1.0" />
         </material>
      </collision> -->
        <visual>
            <origin xyz="-0.01425 -3.19189e-16 -0.0395" rpy="3.14159 -1.04441e-16 3.14159" />
            <geometry>
                <mesh filename="package://right_arm_urdf/meshes/irb-a01_open.stl" />
            </geometry>
            <material name="irb-a01_open_material">
                <color rgba="0.105882 0.372549 0.666667 1.0" />
            </material>
        </visual>
        <collision>
            <origin xyz="-0.01425 -3.19189e-16 -0.0395" rpy="3.14159 -1.04441e-16 3.14159" />
            <geometry>
                <mesh filename="package://right_arm_urdf/meshes/irb-a01_open.stl" />
            </geometry>
            <material name="irb-a01_open_material">
                <color rgba="0.105882 0.372549 0.666667 1.0" />
            </material>
        </collision>
        <!-- <visual>
         <origin xyz="0.0205809 0.0239 -0.0446" rpy="-5.61859e-15 -2.02506e-14 1.5708" />
         <geometry>
            <mesh filename="package://right_arm_urdf/meshes/nut2_m2_5_1.stl" />
         </geometry>
         <material name="nut2_m2_5_1_material">
            <color rgba="0.376471 0.415686 0.45098 1.0" />
         </material>
      </visual>
      <collision>
         <origin xyz="0.0205809 0.0239 -0.0446" rpy="-5.61859e-15 -2.02506e-14 1.5708" />
         <geometry>
            <mesh filename="package://right_arm_urdf/meshes/nut2_m2_5_1.stl" />
         </geometry>
         <material name="nut2_m2_5_1_material">
            <color rgba="0.376471 0.415686 0.45098 1.0" />
         </material>
      </collision> -->
        <!-- <visual>
         <origin xyz="-4.03903e-05 -0.0149999 -0.03955" rpy="1.5708 -1.19276e-14 -0.0026926" />
         <geometry>
            <mesh filename="package://right_arm_urdf/meshes/nut2_m3.stl" />
         </geometry>
         <material name="nut2_m3_material">
            <color rgba="0.866667 0.321569 0.156863 1.0" />
         </material>
      </visual>
      <collision>
         <origin xyz="-4.03903e-05 -0.0149999 -0.03955" rpy="1.5708 -1.19276e-14 -0.0026926" />
         <geometry>
            <mesh filename="package://right_arm_urdf/meshes/nut2_m3.stl" />
         </geometry>
         <material name="nut2_m3_material">
            <color rgba="0.866667 0.321569 0.156863 1.0" />
         </material>
      </collision> -->
        <!-- <visual>
         <origin xyz="0.01675 0.004 -0.011" rpy="3.14159 1.5708 0" />
         <geometry>
            <mesh filename="package://right_arm_urdf/meshes/wbh_m2_5x4_1.stl" />
         </geometry>
         <material name="wbh_m2_5x4_1_material">
            <color rgba="0.85098 0.756863 0.870588 1.0" />
         </material>
      </visual>
      <collision>
         <origin xyz="0.01675 0.004 -0.011" rpy="3.14159 1.5708 0" />
         <geometry>
            <mesh filename="package://right_arm_urdf/meshes/wbh_m2_5x4_1.stl" />
         </geometry>
         <material name="wbh_m2_5x4_1_material">
            <color rgba="0.85098 0.756863 0.870588 1.0" />
         </material>
      </collision> -->
        <!-- <visual>
         <origin xyz="-0.037 -0.0001 -0.0494" rpy="4.30878e-15 -5.42567e-15 -2.7545" />
         <geometry>
            <mesh filename="package://right_arm_urdf/meshes/wbh_m3x10.stl" />
         </geometry>
         <material name="wbh_m3x10_material">
            <color rgba="0.564706 0.811765 0.945098 1.0" />
         </material>
      </visual>
      <collision>
         <origin xyz="-0.037 -0.0001 -0.0494" rpy="4.30878e-15 -5.42567e-15 -2.7545" />
         <geometry>
            <mesh filename="package://right_arm_urdf/meshes/wbh_m3x10.stl" />
         </geometry>
         <material name="wbh_m3x10_material">
            <color rgba="0.564706 0.811765 0.945098 1.0" />
         </material>
      </collision> -->
        <visual>
            <origin xyz="-4.03889e-05 -0.0149999 -0.0438" rpy="1.5708 -4.44638e-14 -2.75989" />
            <geometry>
                <mesh filename="package://right_arm_urdf/meshes/pr33_ifb-a01.stl" />
            </geometry>
            <material name="pr33_ifb-a01_material">
                <color rgba="0.85098 0.756863 0.870588 1.0" />
            </material>
        </visual>
        <collision>
            <origin xyz="-4.03889e-05 -0.0149999 -0.0438" rpy="1.5708 -4.44638e-14 -2.75989" />
            <geometry>
                <mesh filename="package://right_arm_urdf/meshes/pr33_ifb-a01.stl" />
            </geometry>
            <material name="pr33_ifb-a01_material">
                <color rgba="0.85098 0.756863 0.870588 1.0" />
            </material>
        </collision>
        <!-- <visual>
         <origin xyz="-0.027 0.0239 -0.0446" rpy="1.5708 3.26624e-14 1.5708" />
         <geometry>
            <mesh filename="package://right_arm_urdf/meshes/wbh_m2_5x8.stl" />
         </geometry>
         <material name="wbh_m2_5x8_material">
            <color rgba="1 0.756863 0.054902 1.0" />
         </material>
      </visual>
      <collision>
         <origin xyz="-0.027 0.0239 -0.0446" rpy="1.5708 3.26624e-14 1.5708" />
         <geometry>
            <mesh filename="package://right_arm_urdf/meshes/wbh_m2_5x8.stl" />
         </geometry>
         <material name="wbh_m2_5x8_material">
            <color rgba="1 0.756863 0.054902 1.0" />
         </material>
      </collision> -->
        
<inertial>
            <origin xyz="0 0 0" rpy="0 0 0" />
            <mass value="5" />
            <inertia ixx="0" ixy="0" ixz="0" iyy="0" iyz="0" izz="0" />
        </inertial>

    </link>
    <joint name="wrist" type="continuous">
        <origin xyz="4.16334e-16 -0.178438 0.03" rpy="-1.5708 1.5708 0" />
        s
        <parent link="link_forearm" />
        <child link="link_claw" />
        <axis xyz="0 0 1" />
        <limit effort="1" velocity="20" />
        <joint_properties friction="0.0" />
    </joint>
    <joint name="elbow" type="revolute">
        <origin xyz="0.166399 -0.0715838 -0.0251898" rpy="-1.66708e-14 -1.48395e-14 1.16453" />
        <parent link="link_elbow" />
        <child link="link_forearm" />
        <axis xyz="0 0 1" />
        <limit effort="100.0" lower="-1.76278" upper="1.76278" velocity="20" />
        <joint_properties friction="0.0" />
    </joint>
    <joint name="shoulder_pitch" type="revolute">
        <origin xyz="-0.0297467 -2.91434e-16 -0.0893164" rpy="1.5708 0.960485 1.5708" />
        <parent link="link_socket" />
        <child link="link_elbow" />
        <axis xyz="0 0 1" />
        <limit effort="100.0" lower="-1.0472" upper="1.0472" velocity="20" />
        <joint_properties friction="0.0" />
    </joint>
    <joint name="shoulder_yaw" type="continuous">
        <origin xyz="-0.050972 -0.0908091 -0.0376234" rpy="3.14159 -4.29356e-16 2.5501" />
        <parent link="base_link" />
        <child link="link_socket" />
        <axis xyz="0 0 1" />
        <limit effort="1" velocity="20" />
        <joint_properties friction="0.0" />
    </joint>
    
<transmission name="yaw_trans">
        <type>transmission_interface/SimpleTransmission</type>
        <joint name="shoulder_yaw">
            <hardwareInterface>EffortJointInterface</hardwareInterface>
        </joint>
        <actuator name="yaw_nema">
            <mechanicalReduction>50</mechanicalReduction>
            <hardwareInterface>hardware_interface/EffortJointInterface</hardwareInterface>
        </actuator>
    </transmission>
    <transmission name="pitch_trans">
        <type>transmission_interface/SimpleTransmission</type>
        <joint name="shoulder_pitch">
            <hardwareInterface>hardware_interface/EffortJointInterface</hardwareInterface>
        </joint>
        <actuator name="pitch_nema">
            <mechanicalReduction>50</mechanicalReduction>
            <hardwareInterface>hardware_interface/EffortJointInterface</hardwareInterface>
        </actuator>
    </transmission>
    <transmission name="elbow_trans">
        <type>transmission_interface/SimpleTransmission</type>
        <joint name="elbow">
            <hardwareInterface>hardware_interface/EffortJointInterface</hardwareInterface>
        </joint>
        <actuator name="elbow_dynamixel">
            <mechanicalReduction>50</mechanicalReduction>
            <hardwareInterface>hardware_interface/EffortJointInterface</hardwareInterface>
        </actuator>
    </transmission>
    <transmission name="wrist_trans">
        <type>transmission_interface/SimpleTransmission</type>
        <joint name="wrist">
            <hardwareInterface>hardware_interface/EffortJointInterface</hardwareInterface>
        </joint>
        <actuator name="wrist_dynamixel">
            <mechanicalReduction>50</mechanicalReduction>
            <hardwareInterface>hardware_interface/EffortJointInterface</hardwareInterface>
        </actuator>
    </transmission>
    <gazebo>
        <plugin name="gazebo_ros_control" filename="libgazebo_ros_control.so">
            <robotNamespace>/jacker</robotNamespace>
            <robotParam>/jacker/robot_description</robotParam>
            <robotSimType>gazebo_ros_control/DefaultRobotHWSim</robotSimType>
        </plugin>
    </gazebo>
    <transmission name="trans_wrist">
        <type>transmission_interface/SimpleTransmission</type>
        <joint name="wrist">
            <hardwareInterface>hardware_interface/EffortJointInterface</hardwareInterface>
        </joint>
        <actuator name="wrist_motor">
            <hardwareInterface>hardware_interface/EffortJointInterface</hardwareInterface>
            <mechanicalReduction>1</mechanicalReduction>
        </actuator>
    </transmission>
    <transmission name="trans_elbow">
        <type>transmission_interface/SimpleTransmission</type>
        <joint name="elbow">
            <hardwareInterface>hardware_interface/EffortJointInterface</hardwareInterface>
        </joint>
        <actuator name="elbow_motor">
            <hardwareInterface>hardware_interface/EffortJointInterface</hardwareInterface>
            <mechanicalReduction>1</mechanicalReduction>
        </actuator>
    </transmission>
    <transmission name="trans_shoulder_pitch">
        <type>transmission_interface/SimpleTransmission</type>
        <joint name="shoulder_pitch">
            <hardwareInterface>hardware_interface/EffortJointInterface</hardwareInterface>
        </joint>
        <actuator name="shoulder_pitch_motor">
            <hardwareInterface>hardware_interface/EffortJointInterface</hardwareInterface>
            <mechanicalReduction>1</mechanicalReduction>
        </actuator>
    </transmission>
    <transmission name="trans_shoulder_yaw">
        <type>transmission_interface/SimpleTransmission</type>
        <joint name="shoulder_yaw">
            <hardwareInterface>hardware_interface/EffortJointInterface</hardwareInterface>
        </joint>
        <actuator name="shoulder_yaw_motor">
            <hardwareInterface>hardware_interface/EffortJointInterface</hardwareInterface>
            <mechanicalReduction>1</mechanicalReduction>
        </actuator>
    </transmission>
    <gazebo>
        <plugin name="gazebo_ros_control" filename="libgazebo_ros_control.so">
            <robotNamespace>/</robotNamespace>
        </plugin>
    </gazebo>
</robot>
